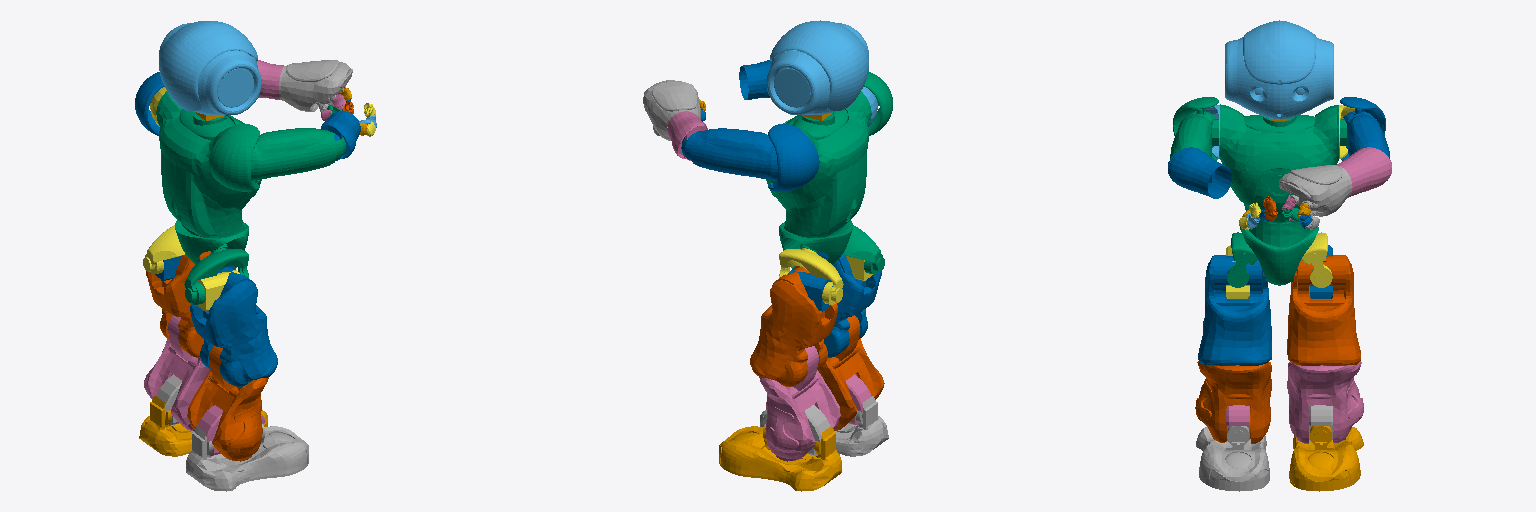
--- Render facts (derived) ---
Views: 3 orthographic renders of the robot side by side, from view 1: azimuth 30°, elevation 25°; view 2: azimuth 150°, elevation 25°; view 3: azimuth 270°, elevation 25°.
Robot: nao — 83 links, 82 joints (26 revolute, 56 fixed); root link base_link; default pose: all joints at 0 but 2 set to mid-range because 0 is outside their limits (LElbowRoll = -0.7898, RElbowRoll = 0.7898).
Links seen in each view (by area): view 1: torso, Head, RBicep, RThigh, r_ankle, RTibia, l_wrist, LTibia, LThigh, l_ankle, RPelvis, LPelvis (+6 smaller); view 2: torso, Head, LBicep, LThigh, l_ankle, LTibia, RTibia, RThigh, l_wrist, r_ankle, LPelvis, RPelvis (+6 smaller); view 3: torso, Head, LThigh, RThigh, RTibia, LTibia, l_ankle, r_ankle, l_wrist, RForeArm, LBicep, RBicep (+4 smaller).
Boxes of the visible links, left/top/right/bottom form: torso: left=156, top=91, right=261, bottom=268; Head: left=159, top=21, right=261, bottom=114; RBicep: left=209, top=124, right=345, bottom=191; RThigh: left=190, top=266, right=277, bottom=386; r_ankle: left=186, top=424, right=308, bottom=491; RTibia: left=187, top=346, right=268, bottom=461; l_wrist: left=279, top=60, right=352, bottom=111; LTibia: left=144, top=315, right=209, bottom=430; LThigh: left=146, top=251, right=210, bottom=357; l_ankle: left=139, top=396, right=267, bottom=456; RPelvis: left=184, top=248, right=248, bottom=304; LPelvis: left=143, top=225, right=184, bottom=274; torso: left=766, top=91, right=871, bottom=268; Head: left=767, top=20, right=868, bottom=114; LBicep: left=681, top=124, right=819, bottom=191; LThigh: left=750, top=266, right=837, bottom=386; l_ankle: left=719, top=424, right=841, bottom=491; LTibia: left=759, top=346, right=840, bottom=461; RTibia: left=818, top=315, right=884, bottom=430; RThigh: left=817, top=251, right=881, bottom=357; l_wrist: left=643, top=80, right=700, bottom=140; r_ankle: left=760, top=396, right=888, bottom=456; LPelvis: left=779, top=248, right=843, bottom=304; RPelvis: left=843, top=225, right=884, bottom=274; torso: left=1212, top=104, right=1347, bottom=285; Head: left=1225, top=20, right=1333, bottom=119; LThigh: left=1287, top=255, right=1360, bottom=365; RThigh: left=1198, top=255, right=1271, bottom=365; RTibia: left=1195, top=361, right=1271, bottom=443; LTibia: left=1287, top=361, right=1363, bottom=443; l_ankle: left=1289, top=426, right=1363, bottom=491; r_ankle: left=1196, top=426, right=1269, bottom=491; l_wrist: left=1279, top=165, right=1352, bottom=216; RForeArm: left=1168, top=147, right=1231, bottom=198; LBicep: left=1340, top=97, right=1389, bottom=160; RBicep: left=1170, top=97, right=1218, bottom=160.
Size in the robot's own frame: 0.2792 by 0.2719 by 0.5738 metres.
Meshes: 39 distinct files referenced, 38 mesh visuals loaded (38 Collada DAE); not drawn: 1 (reference not matched to a file when rendering).

robot.urdf — nao:
<?xml version="1.0" encoding="utf-8"?>
<!-- =================================================================================== -->
<!-- |    This document was autogenerated by xacro from nao_robot.xacro                | -->
<!-- |    EDITING THIS FILE BY HAND IS NOT RECOMMENDED                                 | -->
<!-- =================================================================================== -->
<!--******************************************************************
 ****** File automatically generated by generate_urdf.py script ******
 *********************************************************************-->
<robot name="nao">
  <joint name="HeadYaw" type="revolute">
    <parent link="torso"/>
    <child link="Neck"/>
    <origin rpy="0 0 0" xyz="0 0 0.1265"/>
    <axis xyz="0 0 1.0"/>
    <limit effort="1.547" lower="-2.08567" upper="2.08567" velocity="8.26797"/>
  </joint>
  <link name="Neck">
    <inertial>
      <mass value="0.06442"/>
      <inertia ixx="2.65584e-05" ixy="1.57e-09" ixz="0" iyy="2.75654e-05" iyz="-5.295e-08" izz="5.53372e-06"/>
      <origin rpy="0 0 0" xyz="-1e-05 0 -0.02742"/>
    </inertial>
    <visual>
      <geometry>
        <mesh filename="package://nao_description/nao_meshes/meshes/V40/HeadYaw.dae" scale="0.1 0.1 0.1"/>
      </geometry>
      <origin rpy="0 0 0" xyz="0 0 0"/>
    </visual>
    <collision>
      <geometry>
        <mesh filename="package://nao_description/nao_meshes/meshes/V40/HeadYaw_0.10.stl" scale="0.1 0.1 0.1"/>
      </geometry>
      <origin rpy="0 0 0" xyz="0 0 0"/>
    </collision>
  </link>
  <joint name="HeadPitch" type="revolute">
    <parent link="Neck"/>
    <child link="Head"/>
    <origin rpy="0 0 0" xyz="0 0 0"/>
    <axis xyz="0 1.0 0"/>
    <limit effort="1.532" lower="-0.671952" upper="0.514872" velocity="7.19407"/>
  </joint>
  <link name="Head">
    <inertial>
      <mass value="0.60533"/>
      <inertia ixx="0.000957766" ixy="8.78814e-06" ixz="5.33702e-06" iyy="0.000816836" iyz="-2.99579e-05" izz="0.000984976"/>
      <origin rpy="0 0 0" xyz="-0.00112 0 0.05258"/>
    </inertial>
    <visual>
      <geometry>
        <mesh filename="package://nao_description/nao_meshes/meshes/V40/HeadPitch.dae" scale="0.1 0.1 0.1"/>
      </geometry>
      <origin rpy="0 0 0" xyz="0 0 0"/>
    </visual>
    <collision>
      <geometry>
        <mesh filename="package://nao_description/nao_meshes/meshes/V40/HeadPitch_0.10.stl" scale="0.1 0.1 0.1"/>
      </geometry>
      <origin rpy="0 0 0" xyz="0 0 0"/>
    </collision>
  </link>
  <joint name="gaze_joint" type="fixed">
    <parent link="Head"/>
    <child link="gaze"/>
    <origin rpy="0 0 0" xyz="0.05871 0 0.06364"/>
  </joint>
  <link name="gaze"/>
  <joint name="LHipYawPitch" type="revolute">
    <parent link="torso"/>
    <child link="LPelvis"/>
    <origin rpy="0 0 0" xyz="0 0.05 -0.085"/>
    <axis xyz="0 0.707106 -0.707106"/>
    <limit effort="3.348" lower="-1.14529" upper="0.740718" velocity="4.16174"/>
  </joint>
  <link name="LPelvis">
    <inertial>
      <mass value="0.06981"/>
      <inertia ixx="2.3407e-05" ixy="1.07922e-06" ixz="-1.76003e-06" iyy="4.76355e-05" iyz="2.76058e-06" izz="4.97021e-05"/>
      <origin rpy="0 0 0" xyz="-0.00781 -0.01114 0.02661"/>
    </inertial>
    <visual>
      <geometry>
        <mesh filename="package://nao_description/nao_meshes/meshes/V40/LHipYawPitch.dae" scale="0.1 0.1 0.1"/>
      </geometry>
      <origin rpy="0 0 0" xyz="0 0 0"/>
    </visual>
    <collision>
      <geometry>
        <mesh filename="package://nao_description/nao_meshes/meshes/V40/LHipYawPitch_0.10.stl" scale="0.1 0.1 0.1"/>
      </geometry>
      <origin rpy="0 0 0" xyz="0 0 0"/>
    </collision>
  </link>
  <joint name="LHipRoll" type="revolute">
    <parent link="LPelvis"/>
    <child link="LHip"/>
    <origin rpy="0 0 0" xyz="0 0 0"/>
    <axis xyz="1.0 0 0"/>
    <limit effort="3.348" lower="-0.379435" upper="0.79046" velocity="4.16174"/>
  </joint>
  <link name="LHip">
    <inertial>
      <mass value="0.13053"/>
      <inertia ixx="2.41106e-05" ixy="-6.08684e-07" ixz="6.33119e-06" iyy="6.34892e-05" iyz="-1.99137e-07" izz="5.67694e-05"/>
      <origin rpy="0 0 0" xyz="-0.01549 0.00029 -0.00515"/>
    </inertial>
    <visual>
      <geometry>
        <mesh filename="package://nao_description/nao_meshes/meshes/V40/LHipRoll.dae" scale="0.1 0.1 0.1"/>
      </geometry>
      <origin rpy="0 0 0" xyz="0 0 0"/>
    </visual>
    <collision>
      <geometry>
        <mesh filename="package://nao_description/nao_meshes/meshes/V40/LHipRoll_0.10.stl" scale="0.1 0.1 0.1"/>
      </geometry>
      <origin rpy="0 0 0" xyz="0 0 0"/>
    </collision>
  </link>
  <joint name="LHipPitch" type="revolute">
    <parent link="LHip"/>
    <child link="LThigh"/>
    <origin rpy="0 0 0" xyz="0 0 0"/>
    <axis xyz="0 1.0 0"/>
    <limit effort="3.023" lower="-1.53589" upper="0.48398" velocity="6.40239"/>
  </joint>
  <link name="LThigh">
    <inertial>
      <mass value="0.38968"/>
      <inertia ixx="0.000509844" ixy="2.11296e-06" ixz="5.64129e-05" iyy="0.000465358" iyz="-7.91029e-06" izz="0.000301098"/>
      <origin rpy="0 0 0" xyz="0.00138 0.00221 -0.05373"/>
    </inertial>
    <visual>
      <geometry>
        <mesh filename="package://nao_description/nao_meshes/meshes/V40/LHipPitch.dae" scale="0.1 0.1 0.1"/>
      </geometry>
      <origin rpy="0 0 0" xyz="0 0 0"/>
    </visual>
    <collision>
      <geometry>
        <mesh filename="package://nao_description/nao_meshes/meshes/V40/LHipPitch_0.10.stl" scale="0.1 0.1 0.1"/>
      </geometry>
      <origin rpy="0 0 0" xyz="0 0 0"/>
    </collision>
  </link>
  <joint name="LKneePitch" type="revolute">
    <parent link="LThigh"/>
    <child link="LTibia"/>
    <origin rpy="0 0 0" xyz="0 0 -0.1"/>
    <axis xyz="0 1.0 0"/>
    <limit effort="3.023" lower="-0.0923279" upper="2.11255" velocity="6.40239"/>
  </joint>
  <link name="LTibia">
    <inertial>
      <mass value="0.29142"/>
      <inertia ixx="0.000470586" ixy="3.60392e-06" ixz="-2.86648e-05" iyy="0.000412654" iyz="7.13013e-06" izz="0.000185772"/>
      <origin rpy="0 0 0" xyz="0.00453 0.00225 -0.04936"/>
    </inertial>
    <visual>
      <geometry>
        <mesh filename="package://nao_description/nao_meshes/meshes/V40/LKneePitch.dae" scale="0.1 0.1 0.1"/>
      </geometry>
      <origin rpy="0 0 0" xyz="0 0 0"/>
    </visual>
    <collision>
      <geometry>
        <mesh filename="package://nao_description/nao_meshes/meshes/V40/LKneePitch_0.10.stl" scale="0.1 0.1 0.1"/>
      </geometry>
      <origin rpy="0 0 0" xyz="0 0 0"/>
    </collision>
  </link>
  <joint name="LAnklePitch" type="revolute">
    <parent link="LTibia"/>
    <child link="LAnklePitch"/>
    <origin rpy="0 0 0" xyz="0 0 -0.1029"/>
    <axis xyz="0 1.0 0"/>
    <limit effort="3.023" lower="-1.18944" upper="0.922581" velocity="6.40239"/>
  </joint>
  <link name="LAnklePitch">
    <inertial>
      <mass value="0.13416"/>
      <inertia ixx="3.22034e-05" ixy="-8.83212e-09" ixz="4.27549e-06" iyy="6.7943e-05" iyz="2.84849e-07" izz="5.48269e-05"/>
      <origin rpy="0 0 0" xyz="0.00045 0.00029 0.00685"/>
    </inertial>
    <visual>
      <geometry>
        <mesh filename="package://nao_description/nao_meshes/meshes/V40/LAnklePitch.dae" scale="0.1 0.1 0.1"/>
      </geometry>
      <origin rpy="0 0 0" xyz="0 0 0"/>
    </visual>
    <collision>
      <geometry>
        <mesh filename="package://nao_description/nao_meshes/meshes/V40/LAnklePitch_0.10.stl" scale="0.1 0.1 0.1"/>
      </geometry>
      <origin rpy="0 0 0" xyz="0 0 0"/>
    </collision>
  </link>
  <joint name="LAnkleRoll" type="revolute">
    <parent link="LAnklePitch"/>
    <child link="l_ankle"/>
    <origin rpy="0 0 0" xyz="0 0 0"/>
    <axis xyz="1.0 0 0"/>
    <limit effort="3.348" lower="-0.397761" upper="0.768992" velocity="4.16174"/>
  </joint>
  <link name="l_ankle">
    <inertial>
      <mass value="0.16184"/>
      <inertia ixx="9.78911e-05" ixy="7.88039e-06" ixz="6.1279e-06" iyy="0.000369977" iyz="1.44233e-06" izz="0.000419417"/>
      <origin rpy="0 0 0" xyz="0.02542 0.0033 -0.03239"/>
    </inertial>
    <visual>
      <geometry>
        <mesh filename="package://nao_description/nao_meshes/meshes/V40/LAnkleRoll.dae" scale="0.1 0.1 0.1"/>
      </geometry>
      <origin rpy="0 0 0" xyz="0 0 0"/>
    </visual>
    <collision>
      <geometry>
        <mesh filename="package://nao_description/nao_meshes/meshes/V40/LAnkleRoll_0.10.stl" scale="0.1 0.1 0.1"/>
      </geometry>
      <origin rpy="0 0 0" xyz="0 0 0"/>
    </collision>
  </link>
  <joint name="LLeg_effector_fixedjoint" type="fixed">
    <parent link="l_ankle"/>
    <child link="l_sole"/>
    <origin rpy="0 0 0" xyz="0 0 -0.04511"/>
    <axis xyz="0 0 0"/>
  </joint>
  <link name="l_sole"/>
  <joint name="RHipYawPitch" type="revolute">
    <parent link="torso"/>
    <child link="RPelvis"/>
    <origin rpy="0 0 0" xyz="0 -0.05 -0.085"/>
    <axis xyz="0 0.707106 0.707106"/>
    <limit effort="3.348" lower="-1.14529" upper="0.740718" velocity="4.16174"/>
    <mimic joint="LHipYawPitch" multiplier="1.0" offset="0"/>
  </joint>
  <link name="RPelvis">
    <inertial>
      <mass value="0.06981"/>
      <inertia ixx="3.18766e-05" ixy="-1.07152e-06" ixz="-1.77295e-06" iyy="5.18361e-05" iyz="-7.00664e-06" izz="5.39657e-05"/>
      <origin rpy="0 0 0" xyz="-0.00781 0.01114 0.02661"/>
    </inertial>
    <visual>
      <geometry>
        <mesh filename="package://nao_description/nao_meshes/meshes/V40/RHipYawPitch.dae" scale="0.1 0.1 0.1"/>
      </geometry>
      <origin rpy="0 0 0" xyz="0 0 0"/>
    </visual>
    <collision>
      <geometry>
        <mesh filename="package://nao_description/nao_meshes/meshes/V40/RHipYawPitch_0.10.stl" scale="0.1 0.1 0.1"/>
      </geometry>
      <origin rpy="0 0 0" xyz="0 0 0"/>
    </collision>
  </link>
  <joint name="RHipRoll" type="revolute">
    <parent link="RPelvis"/>
    <child link="RHip"/>
    <origin rpy="0 0 0" xyz="0 0 0"/>
    <axis xyz="1.0 0 0"/>
    <limit effort="3.348" lower="-0.79046" upper="0.379435" velocity="4.16174"/>
  </joint>
  <link name="RHip">
    <inertial>
      <mass value="0.13053"/>
      <inertia ixx="2.41136e-05" ixy="5.67164e-07" ixz="6.30461e-06" iyy="6.34886e-05" iyz="1.97457e-07" izz="5.6773e-05"/>
      <origin rpy="0 0 0" xyz="-0.01549 -0.00029 -0.00515"/>
    </inertial>
    <visual>
      <geometry>
        <mesh filename="package://nao_description/nao_meshes/meshes/V40/RHipRoll.dae" scale="0.1 0.1 0.1"/>
      </geometry>
      <origin rpy="0 0 0" xyz="0 0 0"/>
    </visual>
    <collision>
      <geometry>
        <mesh filename="package://nao_description/nao_meshes/meshes/V40/RHipRoll_0.10.stl" scale="0.1 0.1 0.1"/>
      </geometry>
      <origin rpy="0 0 0" xyz="0 0 0"/>
    </collision>
  </link>
  <joint name="RHipPitch" type="revolute">
    <parent link="RHip"/>
    <child link="RThigh"/>
    <origin rpy="0 0 0" xyz="0 0 0"/>
    <axis xyz="0 1.0 0"/>
    <limit effort="3.0226" lower="-1.53589" upper="0.48398" velocity="6.40239"/>
  </joint>
  <link name="RThigh">
    <inertial>
      <mass value="0.38968"/>
      <inertia ixx="0.000510607" ixy="-2.02799e-06" ixz="5.69893e-05" iyy="0.0004665" iyz="7.09563e-06" izz="0.000301333"/>
      <origin rpy="0 0 0" xyz="0.00138 -0.00221 -0.05373"/>
    </inertial>
    <visual>
      <geometry>
        <mesh filename="package://nao_description/nao_meshes/meshes/V40/RHipPitch.dae" scale="0.1 0.1 0.1"/>
      </geometry>
      <origin rpy="0 0 0" xyz="0 0 0"/>
    </visual>
    <collision>
      <geometry>
        <mesh filename="package://nao_description/nao_meshes/meshes/V40/RHipPitch_0.10.stl" scale="0.1 0.1 0.1"/>
      </geometry>
      <origin rpy="0 0 0" xyz="0 0 0"/>
    </collision>
  </link>
  <joint name="RKneePitch" type="revolute">
    <parent link="RThigh"/>
    <child link="RTibia"/>
    <origin rpy="0 0 0" xyz="0 0 -0.1"/>
    <axis xyz="0 1.0 0"/>
    <limit effort="3.0226" lower="-0.0923279" upper="2.11255" velocity="6.40239"/>
  </joint>
  <link name="RTibia">
    <inertial>
      <mass value="0.29142"/>
      <inertia ixx="0.000471336" ixy="-3.8668e-06" ixz="-3.71648e-05" iyy="0.00041228" iyz="-6.11093e-06" izz="0.000183997"/>
      <origin rpy="0 0 0" xyz="0.00453 -0.00225 -0.04936"/>
    </inertial>
    <visual>
      <geometry>
        <mesh filename="package://nao_description/nao_meshes/meshes/V40/RKneePitch.dae" scale="0.1 0.1 0.1"/>
      </geometry>
      <origin rpy="0 0 0" xyz="0 0 0"/>
    </visual>
    <collision>
      <geometry>
        <mesh filename="package://nao_description/nao_meshes/meshes/V40/RKneePitch_0.10.stl" scale="0.1 0.1 0.1"/>
      </geometry>
      <origin rpy="0 0 0" xyz="0 0 0"/>
    </collision>
  </link>
  <joint name="RAnklePitch" type="revolute">
    <parent link="RTibia"/>
    <child link="RAnklePitch"/>
    <origin rpy="0 0 0" xyz="0 0 -0.1029"/>
    <axis xyz="0 1.0 0"/>
    <limit effort="3.0226" lower="-1.1863" upper="0.932006" velocity="6.40239"/>
  </joint>
  <link name="RAnklePitch">
    <inertial>
      <mass value="0.13416"/>
      <inertia ixx="3.22017e-05" ixy="4.68321e-08" ixz="4.28821e-06" iyy="6.79885e-05" iyz="-2.71089e-07" izz="5.48747e-05"/>
      <origin rpy="0 0 0" xyz="0.00045 -0.00029 0.00685"/>
    </inertial>
    <visual>
      <geometry>
        <mesh filename="package://nao_description/nao_meshes/meshes/V40/RAnklePitch.dae" scale="0.1 0.1 0.1"/>
      </geometry>
      <origin rpy="0 0 0" xyz="0 0 0"/>
    </visual>
    <collision>
      <geometry>
        <mesh filename="package://nao_description/nao_meshes/meshes/V40/RAnklePitch_0.10.stl" scale="0.1 0.1 0.1"/>
      </geometry>
      <origin rpy="0 0 0" xyz="0 0 0"/>
    </collision>
  </link>
  <joint name="RAnkleRoll" type="revolute">
    <parent link="RAnklePitch"/>
    <child link="r_ankle"/>
    <origin rpy="0 0 0" xyz="0 0 0"/>
    <axis xyz="1.0 0 0"/>
    <limit effort="3.348" lower="-0.768992" upper="0.397761" velocity="4.16174"/>
  </joint>
  <link name="r_ankle">
    <inertial>
      <mass value="0.16184"/>
      <inertia ixx="9.77513e-05" ixy="-7.70106e-06" ixz="5.88169e-06" iyy="0.000369108" iyz="-1.55058e-06" izz="0.000418695"/>
      <origin rpy="0 0 0" xyz="0.02542 -0.0033 -0.03239"/>
    </inertial>
    <visual>
      <geometry>
        <mesh filename="package://nao_description/nao_meshes/meshes/V40/RAnkleRoll.dae" scale="0.1 0.1 0.1"/>
      </geometry>
      <origin rpy="0 0 0" xyz="0 0 0"/>
    </visual>
    <collision>
      <geometry>
        <mesh filename="package://nao_description/nao_meshes/meshes/V40/RAnkleRoll_0.10.stl" scale="0.1 0.1 0.1"/>
      </geometry>
      <origin rpy="0 0 0" xyz="0 0 0"/>
    </collision>
  </link>
  <joint name="RLeg_effector_fixedjoint" type="fixed">
    <parent link="r_ankle"/>
    <child link="r_sole"/>
    <origin rpy="0 0 0" xyz="0 0 -0.04511"/>
    <axis xyz="0 0 0"/>
  </joint>
  <link name="r_sole"/>
  <link name="base_link"/>
  <joint name="base_link_fixedjoint" type="fixed">
    <parent link="base_link"/>
    <child link="torso"/>
    <origin rpy="0 0 0" xyz="0 0 0"/>
    <axis xyz="0 0 0"/>
  </joint>
  <link name="torso">
    <inertial>
      <mass value="1.04956"/>
      <inertia ixx="0.00308361" ixy="1.43116e-05" ixz="-3.30211e-05" iyy="0.0028835" iyz="-2.70793e-05" izz="0.0015924"/>
      <origin rpy="0 0 0" xyz="-0.00413 0 0.04342"/>
    </inertial>
    <visual>
      <geometry>
        <mesh filename="package://nao_description/nao_meshes/meshes/V40/Torso.dae" scale="0.1 0.1 0.1"/>
      </geometry>
      <origin rpy="0 0 0" xyz="0 0 0"/>
    </visual>
    <collision>
      <geometry>
        <mesh filename="package://nao_description/nao_meshes/meshes/V40/Torso_0.10.stl" scale="0.1 0.1 0.1"/>
      </geometry>
      <origin rpy="0 0 0" xyz="0 0 0"/>
    </collision>
  </link>
  <joint name="LShoulderPitch" type="revolute">
    <parent link="torso"/>
    <child link="LShoulder"/>
    <origin rpy="0 0 0" xyz="0 0.098 0.1"/>
    <axis xyz="0 1.0 0"/>
    <limit effort="1.329" lower="-2.08567" upper="2.08567" velocity="8.26797"/>
  </joint>
  <link name="LShoulder">
    <inertial>
      <mass value="0.07504"/>
      <inertia ixx="3.10677e-05" ixy="1.2692e-06" ixz="6.04576e-09" iyy="1.39498e-05" iyz="-2.99484e-07" izz="3.30001e-05"/>
      <origin rpy="0 0 0" xyz="-0.00165 -0.02663 0.00014"/>
    </inertial>
    <visual>
      <geometry>
        <mesh filename="package://nao_description/nao_meshes/meshes/V40/LShoulderPitch.dae" scale="0.1 0.1 0.1"/>
      </geometry>
      <origin rpy="0 0 0" xyz="0 0 0"/>
    </visual>
    <collision>
      <geometry>
        <mesh filename="package://nao_description/nao_meshes/meshes/V40/LShoulderPitch_0.10.stl" scale="0.1 0.1 0.1"/>
      </geometry>
      <origin rpy="0 0 0" xyz="0 0 0"/>
    </collision>
  </link>
  <joint name="LShoulderRoll" type="revolute">
    <parent link="LShoulder"/>
    <child link="LBicep"/>
    <origin rpy="0 0 0" xyz="0 0 0"/>
    <axis xyz="0 0 1.0"/>
    <limit effort="1.7835" lower="-0.314159" upper="1.32645" velocity="7.19407"/>
  </joint>
  <link name="LBicep">
    <inertial>
      <mass value="0.15777"/>
      <inertia ixx="8.7181e-05" ixy="-2.53381e-05" ixz="-1.4213e-05" iyy="0.000274712" iyz="4.71439e-07" izz="0.000241812"/>
      <origin rpy="0 0 0" xyz="0.02455 0.00563 0.0033"/>
    </inertial>
    <visual>
      <geometry>
        <mesh filename="package://nao_description/nao_meshes/meshes/V40/LShoulderRoll.dae" scale="0.1 0.1 0.1"/>
      </geometry>
      <origin rpy="0 0 0" xyz="0 0 0"/>
    </visual>
    <collision>
      <geometry>
        <mesh filename="package://nao_description/nao_meshes/meshes/V40/LShoulderRoll_0.10.stl" scale="0.1 0.1 0.1"/>
      </geometry>
      <origin rpy="0 0 0" xyz="0 0 0"/>
    </collision>
  </link>
  <joint name="LElbowYaw" type="revolute">
    <parent link="LBicep"/>
    <child link="LElbow"/>
    <origin rpy="0 0 0" xyz="0.105 0.015 0"/>
    <axis xyz="1.0 0 0"/>
    <limit effort="1.547" lower="-2.08567" upper="2.08567" velocity="8.26797"/>
  </joint>
  <link name="LElbow">
    <inertial>
      <mass value="0.06483"/>
      <inertia ixx="5.59588e-06" ixy="4.21e-09" ixz="2.92241e-07" iyy="2.66179e-05" iyz="-1.84e-09" izz="2.76294e-05"/>
      <origin rpy="0 0 0" xyz="-0.02744 0 -0.00014"/>
    </inertial>
  </link>
  <joint name="LElbowRoll" type="revolute">
    <parent link="LElbow"/>
    <child link="LForeArm"/>
    <origin rpy="0 0 0" xyz="0 0 0"/>
    <axis xyz="0 0 1.0"/>
    <limit effort="1.532" lower="-1.54462" upper="-0.0349066" velocity="7.19407"/>
  </joint>
  <link name="LForeArm">
    <inertial>
      <mass value="0.07761"/>
      <inertia ixx="2.46746e-05" ixy="3.23152e-06" ixz="1.58221e-06" iyy="3.83837e-05" iyz="1.39194e-07" izz="3.59708e-05"/>
      <origin rpy="0 0 0" xyz="0.02556 0.00281 0.00076"/>
    </inertial>
    <visual>
      <geometry>
        <mesh filename="package://nao_description/nao_meshes/meshes/V40/LElbowRoll.dae" scale="0.1 0.1 0.1"/>
      </geometry>
      <origin rpy="0 0 0" xyz="0 0 0"/>
    </visual>
    <collision>
      <geometry>
        <mesh filename="package://nao_description/nao_meshes/meshes/V40/LElbowRoll_0.10.stl" scale="0.1 0.1 0.1"/>
      </geometry>
      <origin rpy="0 0 0" xyz="0 0 0"/>
    </collision>
  </link>
  <joint name="LWristYaw" type="revolute">
    <parent link="LForeArm"/>
    <child link="l_wrist"/>
    <origin rpy="0 0 0" xyz="0.05595 0 0"/>
    <axis xyz="1.0 0 0"/>
    <limit effort="0.4075" lower="-1.82387" upper="1.82387" velocity="24.6229"/>
  </joint>
  <link name="l_wrist">
    <inertial>
      <mass value="0.18533"/>
      <inertia ixx="6.86477e-05" ixy="1.15465e-07" ixz="-2.87254e-06" iyy="0.000135756" iyz="2.67539e-06" izz="0.000133228"/>
      <origin rpy="0 0 0" xyz="0.03434 -0.00088 0.00308"/>
    </inertial>
    <visual>
      <geometry>
        <mesh filename="package://nao_description/nao_meshes/meshes/V40/LWristYaw.dae" scale="0.1 0.1 0.1"/>
      </geometry>
      <origin rpy="0 0 0" xyz="0 0 0"/>
    </visual>
    <collision>
      <geometry>
        <mesh filename="package://nao_description/nao_meshes/meshes/V40/LWristYaw_0.10.stl" scale="0.1 0.1 0.1"/>
      </geometry>
      <origin rpy="0 0 0" xyz="0 0 0"/>
    </collision>
  </link>
  <joint name="LHand" type="revolute">
    <parent link="l_wrist"/>
    <child link="l_gripper"/>
    <origin rpy="0 0 0" xyz="0.05775 0 -0.01231"/>
    <axis xyz="1.0 0 0"/>
    <limit effort="0.292" lower="0" upper="1.0" velocity="8.33"/>
  </joint>
  <link name="l_gripper">
    <inertial>
      <mass value="2e-06"/>
      <inertia ixx="1.1e-09" ixy="0" ixz="0" iyy="1.1e-09" iyz="0" izz="1.1e-09"/>
    </inertial>
  </link>
  <joint name="RShoulderPitch" type="revolute">
    <parent link="torso"/>
    <child link="RShoulder"/>
    <origin rpy="0 0 0" xyz="0 -0.098 0.1"/>
    <axis xyz="0 1.0 0"/>
    <limit effort="1.329" lower="-2.08567" upper="2.08567" velocity="8.26797"/>
  </joint>
  <link name="RShoulder">
    <inertial>
      <mass value="0.07504"/>
      <inertia ixx="3.10677e-05" ixy="-1.2692e-06" ixz="6.04576e-09" iyy="1.39498e-05" iyz="2.99484e-07" izz="3.30001e-05"/>
      <origin rpy="0 0 0" xyz="-0.00165 0.02663 0.00014"/>
    </inertial>
    <visual>
      <geometry>
        <mesh filename="package://nao_description/nao_meshes/meshes/V40/RShoulderPitch.dae" scale="0.1 0.1 0.1"/>
      </geometry>
      <origin rpy="0 0 0" xyz="0 0 0"/>
    </visual>
    <collision>
      <geometry>
        <mesh filename="package://nao_description/nao_meshes/meshes/V40/RShoulderPitch_0.10.stl" scale="0.1 0.1 0.1"/>
      </geometry>
      <origin rpy="0 0 0" xyz="0 0 0"/>
    </collision>
  </link>
  <joint name="RShoulderRoll" type="revolute">
    <parent link="RShoulder"/>
    <child link="RBicep"/>
    <origin rpy="0 0 0" xyz="0 0 0"/>
    <axis xyz="0 0 1.0"/>
    <limit effort="1.783" lower="-1.32645" upper="0.314159" velocity="7.19407"/>
  </joint>
  <link name="RBicep">
    <inertial>
      <mass value="0.15777"/>
      <inertia ixx="0.000103401" ixy="5.48849e-05" ixz="-1.32643e-05" iyy="0.00027077" iyz="9.16707e-06" izz="0.000254529"/>
      <origin rpy="0 0 0" xyz="0.02455 -0.00563 0.0033"/>
    </inertial>
    <visual>
      <geometry>
        <mesh filename="package://nao_description/nao_meshes/meshes/V40/RShoulderRoll.dae" scale="0.1 0.1 0.1"/>
      </geometry>
      <origin rpy="0 0 0" xyz="0 0 0"/>
    </visual>
    <collision>
      <geometry>
        <mesh filename="package://nao_description/nao_meshes/meshes/V40/RShoulderRoll_0.10.stl" scale="0.1 0.1 0.1"/>
      </geometry>
      <origin rpy="0 0 0" xyz="0 0 0"/>
    </collision>
  </link>
  <joint name="RElbowYaw" type="revolute">
    <parent link="RBicep"/>
    <child link="RElbow"/>
    <origin rpy="0 0 0" xyz="0.105 -0.015 0"/>
    <axis xyz="1.0 0 0"/>
    <limit effort="1.547" lower="-2.08567" upper="2.08567" velocity="8.26797"/>
  </joint>
  <link name="RElbow">
    <inertial>
      <mass value="0.06483"/>
      <inertia ixx="5.59588e-06" ixy="4.21e-09" ixz="2.92241e-07" iyy="2.66179e-05" iyz="-1.84e-09" izz="2.76294e-05"/>
      <origin rpy="0 0 0" xyz="-0.02744 0 -0.00014"/>
    </inertial>
  </link>
  <joint name="RElbowRoll" type="revolute">
    <parent link="RElbow"/>
    <child link="RForeArm"/>
    <origin rpy="0 0 0" xyz="0 0 0"/>
    <axis xyz="0 0 1.0"/>
    <limit effort="1.532" lower="0.0349066" upper="1.54462" velocity="7.19407"/>
  </joint>
  <link name="RForeArm">
    <inertial>
      <mass value="0.07761"/>
      <inertia ixx="2.47331e-05" ixy="-3.2418e-06" ixz="9.06451e-07" iyy="3.84719e-05" iyz="-1.38804e-07" izz="3.59319e-05"/>
      <origin rpy="0 0 0" xyz="0.02556 -0.00281 0.00076"/>
    </inertial>
    <visual>
      <geometry>
        <mesh filename="package://nao_description/nao_meshes/meshes/V40/RElbowRoll.dae" scale="0.1 0.1 0.1"/>
      </geometry>
      <origin rpy="0 0 0" xyz="0 0 0"/>
    </visual>
    <collision>
      <geometry>
        <mesh filename="package://nao_description/nao_meshes/meshes/V40/RElbowRoll_0.10.stl" scale="0.1 0.1 0.1"/>
      </geometry>
      <origin rpy="0 0 0" xyz="0 0 0"/>
    </collision>
  </link>
  <joint name="RWristYaw" type="revolute">
    <parent link="RForeArm"/>
    <child link="r_wrist"/>
    <origin rpy="0 0 0" xyz="0.05595 0 0"/>
    <axis xyz="1.0 0 0"/>
    <limit effort="0.4075" lower="-1.82387" upper="1.82387" velocity="24.6229"/>
  </joint>
  <link name="r_wrist">
    <inertial>
      <mass value="0.18533"/>
      <inertia ixx="6.86477e-05" ixy="1.13165e-05" ixz="-2.87254e-06" iyy="0.000135756" iyz="3.68003e-06" izz="0.000133228"/>
      <origin rpy="0 0 0" xyz="0.03434 0.00088 0.00308"/>
    </inertial>
    <visual>
      <geometry>
        <mesh filename="package://nao_description/nao_meshes/meshes/V40/RWristYaw.dae" scale="0.1 0.1 0.1"/>
      </geometry>
      <origin rpy="0 0 0" xyz="0 0 0"/>
    </visual>
    <collision>
      <geometry>
        <mesh filename="package://nao_description/nao_meshes/meshes/V40/RWristYaw_0.10.stl" scale="0.1 0.1 0.1"/>
      </geometry>
      <origin rpy="0 0 0" xyz="0 0 0"/>
    </collision>
  </link>
  <joint name="RHand" type="revolute">
    <parent link="r_wrist"/>
    <child link="r_gripper"/>
    <origin rpy="0 0 0" xyz="0.05775 0 -0.01231"/>
    <axis xyz="1.0 0 0"/>
    <limit effort="0.292" lower="0" upper="1.0" velocity="8.33"/>
  </joint>
  <link name="r_gripper">
    <inertial>
      <mass value="2e-06"/>
      <inertia ixx="1.1e-09" ixy="0" ixz="0" iyy="1.1e-09" iyz="0" izz="1.1e-09"/>
    </inertial>
  </link>
  <link name="LFootBumperRight_frame"/>
  <joint name="LFoot/Bumper/Right_sensor_fixedjoint" type="fixed">
    <parent link="l_ankle"/>
    <child link="LFootBumperRight_frame"/>
    <origin rpy="0 0 0" xyz="0.0876 -0.014 -0.0353"/>
    <axis xyz="0 0 0"/>
  </joint>
  <link name="RFsrRL_frame">
    <collision>
      <geometry>
        <box size="0.01 0.01 0.005"/>
      </geometry>
      <origin rpy="0 0 0" xyz="0 0 0"/>
    </collision>
    <inertial>
      <mass value="2e-06"/>
      <inertia ixx="1.1e-09" ixy="0" ixz="0" iyy="1.1e-09" iyz="0" izz="1.1e-09"/>
    </inertial>
  </link>
  <joint name="RFoot/FSR/RearLeft_sensor_fixedjoint" type="fixed">
    <parent link="r_ankle"/>
    <child link="RFsrRL_frame"/>
    <origin rpy="0 0 0" xyz="-0.03025 0.0191 -0.04511"/>
    <axis xyz="0 0 0"/>
  </joint>
  <link name="CameraBottom_optical_frame"/>
  <joint name="CameraBottom_optical_frame_fixedjoint" type="fixed">
    <parent link="CameraBottom_frame"/>
    <child link="CameraBottom_optical_frame"/>
    <origin rpy="-1.57079632679 0 -1.57079632679" xyz="0 0 0"/>
  </joint>
  <link name="RFsrRR_frame">
    <collision>
      <geometry>
        <box size="0.01 0.01 0.005"/>
      </geometry>
      <origin rpy="0 0 0" xyz="0 0 0"/>
    </collision>
    <inertial>
      <mass value="2e-06"/>
      <inertia ixx="1.1e-09" ixy="0" ixz="0" iyy="1.1e-09" iyz="0" izz="1.1e-09"/>
    </inertial>
  </link>
  <joint name="RFoot/FSR/RearRight_sensor_fixedjoint" type="fixed">
    <parent link="r_ankle"/>
    <child link="RFsrRR_frame"/>
    <origin rpy="0 0 0" xyz="-0.02965 -0.0299 -0.04511"/>
    <axis xyz="0 0 0"/>
  </joint>
  <link name="LFsrFR_frame">
    <collision>
      <geometry>
        <box size="0.01 0.01 0.005"/>
      </geometry>
      <origin rpy="0 0 0" xyz="0 0 0"/>
    </collision>
    <inertial>
      <mass value="2e-06"/>
      <inertia ixx="1.1e-09" ixy="0" ixz="0" iyy="1.1e-09" iyz="0" izz="1.1e-09"/>
    </inertial>
  </link>
  <joint name="LFoot/FSR/FrontRight_sensor_fixedjoint" type="fixed">
    <parent link="l_ankle"/>
    <child link="LFsrFR_frame"/>
    <origin rpy="0 0 0" xyz="0.07025 -0.0231 -0.04511"/>
    <axis xyz="0 0 0"/>
  </joint>
  <link name="LHandTouchBack_frame"/>
  <joint name="LHand/Touch/Back_sensor_fixedjoint" type="fixed">
    <parent link="l_wrist"/>
    <child link="LHandTouchBack_frame"/>
    <origin rpy="3.14159 -1.5708 3.14159" xyz="0.038 0 0.025"/>
    <axis xyz="0 0 0"/>
  </joint>
  <link name="LHandTouchLeft_frame"/>
  <joint name="LHand/Touch/Left_sensor_fixedjoint" type="fixed">
    <parent link="l_wrist"/>
    <child link="LHandTouchLeft_frame"/>
    <origin rpy="0 0 1.5708" xyz="0.032 0.025 0.003"/>
    <axis xyz="0 0 0"/>
  </joint>
  <link name="RFootBumperRight_frame"/>
  <joint name="RFoot/Bumper/Right_sensor_fixedjoint" type="fixed">
    <parent link="r_ankle"/>
    <child link="RFootBumperRight_frame"/>
    <origin rpy="0 0 0" xyz="0.0876 -0.019 -0.0353"/>
    <axis xyz="0 0 0"/>
  </joint>
  <link name="RFsrFR_frame">
    <collision>
      <geometry>
        <box size="0.01 0.01 0.005"/>
      </geometry>
      <origin rpy="0 0 0" xyz="0 0 0"/>
    </collision>
    <inertial>
      <mass value="2e-06"/>
      <inertia ixx="1.1e-09" ixy="0" ixz="0" iyy="1.1e-09" iyz="0" izz="1.1e-09"/>
    </inertial>
  </link>
  <joint name="RFoot/FSR/FrontRight_sensor_fixedjoint" type="fixed">
    <parent link="r_ankle"/>
    <child link="RFsrFR_frame"/>
    <origin rpy="0 0 0" xyz="0.07025 -0.0299 -0.04511"/>
    <axis xyz="0 0 0"/>
  </joint>
  <link name="MicroSurroundLeft_frame"/>
  <joint name="MicroLeft_sensor_fixedjoint" type="fixed">
    <parent link="Head"/>
    <child link="MicroSurroundLeft_frame"/>
    <origin rpy="0 0 0" xyz="-0.0195 0.0606 0.0331"/>
    <axis xyz="0 0 0"/>
  </joint>
  <link name="LFsrRR_frame">
    <collision>
      <geometry>
        <box size="0.01 0.01 0.005"/>
      </geometry>
      <origin rpy="0 0 0" xyz="0 0 0"/>
    </collision>
    <inertial>
      <mass value="2e-06"/>
      <inertia ixx="1.1e-09" ixy="0" ixz="0" iyy="1.1e-09" iyz="0" izz="1.1e-09"/>
    </inertial>
  </link>
  <joint name="LFoot/FSR/RearRight_sensor_fixedjoint" type="fixed">
    <parent link="l_ankle"/>
    <child link="LFsrRR_frame"/>
    <origin rpy="0 0 0" xyz="-0.02965 -0.0191 -0.04511"/>
    <axis xyz="0 0 0"/>
  </joint>
  <link name="MicroSurroundRight_frame"/>
  <joint name="MicroRight_sensor_fixedjoint" type="fixed">
    <parent link="Head"/>
    <child link="MicroSurroundRight_frame"/>
    <origin rpy="0 0 0" xyz="-0.0195 -0.0606 0.0331"/>
    <axis xyz="0 0 0"/>
  </joint>
  <link name="ImuTorsoAccelerometer_frame"/>
  <joint name="Accelerometer_sensor_fixedjoint" type="fixed">
    <parent link="torso"/>
    <child link="ImuTorsoAccelerometer_frame"/>
    <origin rpy="0 0 0" xyz="-0.008 0.00606 0.027"/>
    <axis xyz="0 0 0"/>
  </joint>
  <link name="HeadTouchFront_frame"/>
  <joint name="Head/Touch/Front_sensor_fixedjoint" type="fixed">
    <parent link="Head"/>
    <child link="HeadTouchFront_frame"/>
    <origin rpy="0 -1.1861 0" xyz="0.0312 0 0.1014"/>
    <axis xyz="0 0 0"/>
  </joint>
  <link name="RFootBumperLeft_frame"/>
  <joint name="RFoot/Bumper/Left_sensor_fixedjoint" type="fixed">
    <parent link="r_ankle"/>
    <child link="RFootBumperLeft_frame"/>
    <origin rpy="0 0 0" xyz="0.0876 0.014 -0.0353"/>
    <axis xyz="0 0 0"/>
  </joint>
  <link name="RSonar_frame"/>
  <joint name="Sonar/Right_sensor_fixedjoint" type="fixed">
    <parent link="torso"/>
    <child link="RSonar_frame"/>
    <origin rpy="0.00478508 0.0436497 -0.392441" xyz="0.00558253 -0.0192068 0.0623853"/>
    <axis xyz="0 0 0"/>
  </joint>
  <link name="RHandTouchRight_frame"/>
  <joint name="RHand/Touch/Right_sensor_fixedjoint" type="fixed">
    <parent link="r_wrist"/>
    <child link="RHandTouchRight_frame"/>
    <origin rpy="0 0 -1.5708" xyz="0.035 -0.025 0.0035"/>
    <axis xyz="0 0 0"/>
  </joint>
  <link name="RHandTouchBack_frame"/>
  <joint name="RHand/Touch/Back_sensor_fixedjoint" type="fixed">
    <parent link="r_wrist"/>
    <child link="RHandTouchBack_frame"/>
    <origin rpy="3.14159 -1.5708 3.14159" xyz="0.038 0 0.025"/>
    <axis xyz="0 0 0"/>
  </joint>
  <link name="RFsrFL_frame">
    <collision>
      <geometry>
        <box size="0.01 0.01 0.005"/>
      </geometry>
      <origin rpy="0 0 0" xyz="0 0 0"/>
    </collision>
    <inertial>
      <mass value="2e-06"/>
      <inertia ixx="1.1e-09" ixy="0" ixz="0" iyy="1.1e-09" iyz="0" izz="1.1e-09"/>
    </inertial>
  </link>
  <joint name="RFoot/FSR/FrontLeft_sensor_fixedjoint" type="fixed">
    <parent link="r_ankle"/>
    <child link="RFsrFL_frame"/>
    <origin rpy="0 0 0" xyz="0.07025 0.0231 -0.04511"/>
    <axis xyz="0 0 0"/>
  </joint>
  <link name="LSonar_frame"/>
  <joint name="Sonar/Left_sensor_fixedjoint" type="fixed">
    <parent link="torso"/>
    <child link="LSonar_frame"/>
    <origin rpy="-0.00478508 0.0436497 0.392441" xyz="0.00558253 0.0192068 0.0623853"/>
    <axis xyz="0 0 0"/>
  </joint>
  <link name="LFsrFL_frame">
    <collision>
      <geometry>
        <box size="0.01 0.01 0.005"/>
      </geometry>
      <origin rpy="0 0 0" xyz="0 0 0"/>
    </collision>
    <inertial>
      <mass value="2e-06"/>
      <inertia ixx="1.1e-09" ixy="0" ixz="0" iyy="1.1e-09" iyz="0" izz="1.1e-09"/>
    </inertial>
  </link>
  <joint name="LFoot/FSR/FrontLeft_sensor_fixedjoint" type="fixed">
    <parent link="l_ankle"/>
    <child link="LFsrFL_frame"/>
    <origin rpy="0 0 0" xyz="0.07025 0.0299 -0.04511"/>
    <axis xyz="0 0 0"/>
  </joint>
  <link name="LFsrRL_frame">
    <collision>
      <geometry>
        <box size="0.01 0.01 0.005"/>
      </geometry>
      <origin rpy="0 0 0" xyz="0 0 0"/>
    </collision>
    <inertial>
      <mass value="2e-06"/>
      <inertia ixx="1.1e-09" ixy="0" ixz="0" iyy="1.1e-09" iyz="0" izz="1.1e-09"/>
    </inertial>
  </link>
  <joint name="LFoot/FSR/RearLeft_sensor_fixedjoint" type="fixed">
    <parent link="l_ankle"/>
    <child link="LFsrRL_frame"/>
    <origin rpy="0 0 0" xyz="-0.03025 0.0299 -0.04511"/>
    <axis xyz="0 0 0"/>
  </joint>
  <link name="RHandTouchLeft_frame"/>
  <joint name="RHand/Touch/Left_sensor_fixedjoint" type="fixed">
    <parent link="r_wrist"/>
    <child link="RHandTouchLeft_frame"/>
    <origin rpy="0 0 1.5708" xyz="0.032 0.025 0.003"/>
    <axis xyz="0 0 0"/>
  </joint>
  <link name="CameraBottom_frame"/>
  <joint name="CameraBottom_sensor_fixedjoint" type="fixed">
    <parent link="Head"/>
    <child link="CameraBottom_frame"/>
    <origin rpy="0 0.692896 0" xyz="0.05071 0 0.01774"/>
    <axis xyz="0 0 0"/>
  </joint>
  <link name="CameraTop_frame"/>
  <joint name="CameraTop_sensor_fixedjoint" type="fixed">
    <parent link="Head"/>
    <child link="CameraTop_frame"/>
    <origin rpy="0 0.0209435 0" xyz="0.05871 0 0.06364"/>
    <axis xyz="0 0 0"/>
  </joint>
  <link name="CameraTop_optical_frame"/>
  <joint name="CameraTop_optical_frame_fixedjoint" type="fixed">
    <parent link="CameraTop_frame"/>
    <child link="CameraTop_optical_frame"/>
    <origin rpy="-1.57079632679 0 -1.57079632679" xyz="0 0 0"/>
  </joint>
  <link name="LInfraRed_frame"/>
  <joint name="InfraredL_sensor_fixedjoint" type="fixed">
    <parent link="Head"/>
    <child link="LInfraRed_frame"/>
    <origin rpy="0 0 0" xyz="0.0441 0.0257 0.0466"/>
    <axis xyz="0 0 0"/>
  </joint>
  <link name="ImuTorsoGyrometer_frame"/>
  <joint name="Gyrometer_sensor_fixedjoint" type="fixed">
    <parent link="torso"/>
    <child link="ImuTorsoGyrometer_frame"/>
    <origin rpy="0 0 0" xyz="-0.008 0.006 0.029"/>
    <axis xyz="0 0 0"/>
  </joint>
  <link name="MicroFrontCenter_frame"/>
  <joint name="MicroFront_sensor_fixedjoint" type="fixed">
    <parent link="Head"/>
    <child link="MicroFrontCenter_frame"/>
    <origin rpy="0 0 0" xyz="0.041 0 0.091"/>
    <axis xyz="0 0 0"/>
  </joint>
  <link name="HeadTouchRear_frame"/>
  <joint name="Head/Touch/Rear_sensor_fixedjoint" type="fixed">
    <parent link="Head"/>
    <child link="HeadTouchRear_frame"/>
    <origin rpy="3.14159 -1.33319 -3.14159" xyz="-0.0257 0 0.1045"/>
    <axis xyz="0 0 0"/>
  </joint>
  <link name="HeadTouchMiddle_frame"/>
  <joint name="Head/Touch/Middle_sensor_fixedjoint" type="fixed">
    <parent link="Head"/>
    <child link="HeadTouchMiddle_frame"/>
    <origin rpy="3.14159 -1.57079 -3.14159" xyz="0.001 0 0.1099"/>
    <axis xyz="0 0 0"/>
  </joint>
  <link name="RInfraRed_frame"/>
  <joint name="InfraredR_sensor_fixedjoint" type="fixed">
    <parent link="Head"/>
    <child link="RInfraRed_frame"/>
    <origin rpy="0 0 0" xyz="0.0441 -0.0257 0.0466"/>
    <axis xyz="0 0 0"/>
  </joint>
  <link name="ChestButton_frame"/>
  <joint name="ChestBoard/Button_sensor_fixedjoint" type="fixed">
    <parent link="torso"/>
    <child link="ChestButton_frame"/>
    <origin rpy="0 0 0" xyz="0.049871 0.001588 0.055163"/>
    <axis xyz="0 0 0"/>
  </joint>
  <link name="LFootBumperLeft_frame"/>
  <joint name="LFoot/Bumper/Left_sensor_fixedjoint" type="fixed">
    <parent link="l_ankle"/>
    <child link="LFootBumperLeft_frame"/>
    <origin rpy="0 0 0" xyz="0.0876 0.019 -0.0353"/>
    <axis xyz="0 0 0"/>
  </joint>
  <link name="MicroRearCenter_frame"/>
  <joint name="MicroRear_sensor_fixedjoint" type="fixed">
    <parent link="Head"/>
    <child link="MicroRearCenter_frame"/>
    <origin rpy="0 0 0" xyz="-0.0577 0 0.0693"/>
    <axis xyz="0 0 0"/>
  </joint>
  <link name="LHandTouchRight_frame"/>
  <joint name="LHand/Touch/Right_sensor_fixedjoint" type="fixed">
    <parent link="l_wrist"/>
    <child link="LHandTouchRight_frame"/>
    <origin rpy="0 0 -1.5708" xyz="0.035 -0.025 0.0035"/>
    <axis xyz="0 0 0"/>
  </joint>
  <link name="RFinger23_link">
    <inertial>
      <mass value="2e-06"/>
      <inertia ixx="1.1e-09" ixy="0" ixz="0" iyy="1.1e-09" iyz="0" izz="1.1e-09"/>
    </inertial>
    <visual>
      <geometry>
        <mesh filename="package://nao_description/nao_meshes/meshes/V40/RFinger23.dae" scale="0.1 0.1 0.1"/>
      </geometry>
      <origin rpy="0 0 0" xyz="0 0 0"/>
    </visual>
    <collision>
      <geometry>
        <mesh filename="package://nao_description/nao_meshes/meshes/V40/RFinger23_0.10.stl" scale="0.1 0.1 0.1"/>
      </geometry>
      <origin rpy="0 0 0" xyz="0 0 0"/>
    </collision>
  </link>
  <joint name="RFinger23" type="fixed">
    <parent link="RFinger22_link"/>
    <child link="RFinger23_link"/>
    <origin rpy="0 0 -0.999899" xyz="0.01436 0 0"/>
    <axis xyz="0 0 1.0"/>
    <!--	<mimic joint="RHand" multiplier="0.999899" offset="0"/> -->
  </joint>
  <link name="RFinger13_link">
    <inertial>
      <mass value="2e-06"/>
      <inertia ixx="1.1e-09" ixy="0" ixz="0" iyy="1.1e-09" iyz="0" izz="1.1e-09"/>
    </inertial>
    <visual>
      <geometry>
        <mesh filename="package://nao_description/nao_meshes/meshes/V40/RFinger13.dae" scale="0.1 0.1 0.1"/>
      </geometry>
      <origin rpy="0 0 0" xyz="0 0 0"/>
    </visual>
    <collision>
      <geometry>
        <mesh filename="package://nao_description/nao_meshes/meshes/V40/RFinger13_0.10.stl" scale="0.1 0.1 0.1"/>
      </geometry>
      <origin rpy="0 0 0" xyz="0 0 0"/>
    </collision>
  </link>
  <joint name="RFinger13" type="fixed">
    <parent link="RFinger12_link"/>
    <child link="RFinger13_link"/>
    <origin rpy="0 0 -0.999899" xyz="0.01436 0 0"/>
    <axis xyz="0 0 1.0"/>
    <!--	<mimic joint="RHand" multiplier="0.999899" offset="0"/>  -->
  </joint>
  <link name="RFinger12_link">
    <inertial>
      <mass value="2e-06"/>
      <inertia ixx="1.1e-09" ixy="0" ixz="0" iyy="1.1e-09" iyz="0" izz="1.1e-09"/>
    </inertial>
    <visual>
      <geometry>
        <mesh filename="package://nao_description/nao_meshes/meshes/V40/RFinger12.dae" scale="0.1 0.1 0.1"/>
      </geometry>
      <origin rpy="0 0 0" xyz="0 0 0"/>
    </visual>
    <collision>
      <geometry>
        <mesh filename="package://nao_description/nao_meshes/meshes/V40/RFinger12_0.10.stl" scale="0.1 0.1 0.1"/>
      </geometry>
      <origin rpy="0 0 0" xyz="0 0 0"/>
    </collision>
  </link>
  <joint name="RFinger12" type="fixed">
    <parent link="RFinger11_link"/>
    <child link="RFinger12_link"/>
    <origin rpy="0 0 -0.999899" xyz="0.01436 0 0"/>
    <axis xyz="0 0 1.0"/>
    <!--	<mimic joint="RHand" multiplier="0.999899" offset="0"/> -->
  </joint>
  <link name="LFinger21_link">
    <inertial>
      <mass value="2e-06"/>
      <inertia ixx="1.1e-09" ixy="0" ixz="0" iyy="1.1e-09" iyz="0" izz="1.1e-09"/>
    </inertial>
    <visual>
      <geometry>
        <mesh filename="package://nao_description/nao_meshes/meshes/V40/LFinger21.dae" scale="0.1 0.1 0.1"/>
      </geometry>
      <origin rpy="0 0 0" xyz="0 0 0"/>
    </visual>
    <collision>
      <geometry>
        <mesh filename="package://nao_description/nao_meshes/meshes/V40/LFinger21_0.10.stl" scale="0.1 0.1 0.1"/>
      </geometry>
      <origin rpy="0 0 0" xyz="0 0 0"/>
    </collision>
  </link>
  <joint name="LFinger21" type="fixed">
    <parent link="l_wrist"/>
    <child link="LFinger21_link"/>
    <origin rpy="1.25539 0.976662 -0.264067" xyz="0.06907 -0.01157 -0.00304"/>
    <axis xyz="0 0 1.0"/>
    <!--	<mimic joint="LHand" multiplier="0.999899" offset="0"/> -->
  </joint>
  <link name="LFinger13_link">
    <inertial>
      <mass value="2e-06"/>
      <inertia ixx="1.1e-09" ixy="0" ixz="0" iyy="1.1e-09" iyz="0" izz="1.1e-09"/>
    </inertial>
    <visual>
      <geometry>
        <mesh filename="package://nao_description/nao_meshes/meshes/V40/LFinger13.dae" scale="0.1 0.1 0.1"/>
      </geometry>
      <origin rpy="0 0 0" xyz="0 0 0"/>
    </visual>
    <collision>
      <geometry>
        <mesh filename="package://nao_description/nao_meshes/meshes/V40/LFinger13_0.10.stl" scale="0.1 0.1 0.1"/>
      </geometry>
      <origin rpy="0 0 0" xyz="0 0 0"/>
    </collision>
  </link>
  <joint name="LFinger13" type="fixed">
    <parent link="LFinger12_link"/>
    <child link="LFinger13_link"/>
    <origin rpy="0 0 -0.999899" xyz="0.01436 0 0"/>
    <axis xyz="0 0 1.0"/>
    <!--	<mimic joint="LHand" multiplier="0.999899" offset="0"/> -->
  </joint>
  <link name="LFinger11_link">
    <inertial>
      <mass value="2e-06"/>
      <inertia ixx="1.1e-09" ixy="0" ixz="0" iyy="1.1e-09" iyz="0" izz="1.1e-09"/>
    </inertial>
    <visual>
      <geometry>
        <mesh filename="package://nao_description/nao_meshes/meshes/V40/LFinger11.dae" scale="0.1 0.1 0.1"/>
      </geometry>
      <origin rpy="0 0 0" xyz="0 0 0"/>
    </visual>
    <collision>
      <geometry>
        <mesh filename="package://nao_description/nao_meshes/meshes/V40/LFinger11_0.10.stl" scale="0.1 0.1 0.1"/>
      </geometry>
      <origin rpy="0 0 0" xyz="0 0 0"/>
    </collision>
  </link>
  <joint name="LFinger11" type="fixed">
    <parent link="l_wrist"/>
    <child link="LFinger11_link"/>
    <origin rpy="1.8862 0.976662 0.264067" xyz="0.06907 0.01157 -0.00304"/>
    <axis xyz="0 0 1.0"/>
    <!--	<mimic joint="LHand" multiplier="0.999899" offset="0"/> -->
  </joint>
  <link name="RFinger22_link">
    <inertial>
      <mass value="2e-06"/>
      <inertia ixx="1.1e-09" ixy="0" ixz="0" iyy="1.1e-09" iyz="0" izz="1.1e-09"/>
    </inertial>
    <visual>
      <geometry>
        <mesh filename="package://nao_description/nao_meshes/meshes/V40/RFinger22.dae" scale="0.1 0.1 0.1"/>
      </geometry>
      <origin rpy="0 0 0" xyz="0 0 0"/>
    </visual>
    <collision>
      <geometry>
        <mesh filename="package://nao_description/nao_meshes/meshes/V40/RFinger22_0.10.stl" scale="0.1 0.1 0.1"/>
      </geometry>
      <origin rpy="0 0 0" xyz="0 0 0"/>
    </collision>
  </link>
  <joint name="RFinger22" type="fixed">
    <parent link="RFinger21_link"/>
    <child link="RFinger22_link"/>
    <origin rpy="0 0 -0.999899" xyz="0.01436 0 0"/>
    <axis xyz="0 0 1.0"/>
    <!--	<mimic joint="RHand" multiplier="0.999899" offset="0"/> -->
  </joint>
  <link name="LFinger22_link">
    <inertial>
      <mass value="2e-06"/>
      <inertia ixx="1.1e-09" ixy="0" ixz="0" iyy="1.1e-09" iyz="0" izz="1.1e-09"/>
    </inertial>
    <visual>
      <geometry>
        <mesh filename="package://nao_description/nao_meshes/meshes/V40/LFinger22.dae" scale="0.1 0.1 0.1"/>
      </geometry>
      <origin rpy="0 0 0" xyz="0 0 0"/>
    </visual>
    <collision>
      <geometry>
        <mesh filename="package://nao_description/nao_meshes/meshes/V40/LFinger22_0.10.stl" scale="0.1 0.1 0.1"/>
      </geometry>
      <origin rpy="0 0 0" xyz="0 0 0"/>
    </collision>
  </link>
  <joint name="LFinger22" type="fixed">
    <parent link="LFinger21_link"/>
    <child link="LFinger22_link"/>
    <origin rpy="0 0 -0.999899" xyz="0.01436 0 0"/>
    <axis xyz="0 0 1.0"/>
    <!--	<mimic joint="LHand" multiplier="0.999899" offset="0"/> -->
  </joint>
  <link name="RFinger21_link">
    <inertial>
      <mass value="2e-06"/>
      <inertia ixx="1.1e-09" ixy="0" ixz="0" iyy="1.1e-09" iyz="0" izz="1.1e-09"/>
    </inertial>
    <visual>
      <geometry>
        <mesh filename="package://nao_description/nao_meshes/meshes/V40/RFinger21.dae" scale="0.1 0.1 0.1"/>
      </geometry>
      <origin rpy="0 0 0" xyz="0 0 0"/>
    </visual>
    <collision>
      <geometry>
        <mesh filename="package://nao_description/nao_meshes/meshes/V40/RFinger21_0.10.stl" scale="0.1 0.1 0.1"/>
      </geometry>
      <origin rpy="0 0 0" xyz="0 0 0"/>
    </collision>
  </link>
  <joint name="RFinger21" type="fixed">
    <parent link="r_wrist"/>
    <child link="RFinger21_link"/>
    <origin rpy="1.25539 0.976662 -0.264067" xyz="0.06907 -0.01157 -0.00304"/>
    <axis xyz="0 0 1.0"/>
    <!--	<mimic joint="RHand" multiplier="0.999899" offset="0"/> -->
  </joint>
  <link name="LFinger12_link">
    <inertial>
      <mass value="2e-06"/>
      <inertia ixx="1.1e-09" ixy="0" ixz="0" iyy="1.1e-09" iyz="0" izz="1.1e-09"/>
    </inertial>
    <visual>
      <geometry>
        <mesh filename="package://nao_description/nao_meshes/meshes/V40/LFinger12.dae" scale="0.1 0.1 0.1"/>
      </geometry>
      <origin rpy="0 0 0" xyz="0 0 0"/>
    </visual>
    <collision>
      <geometry>
        <mesh filename="package://nao_description/nao_meshes/meshes/V40/LFinger12_0.10.stl" scale="0.1 0.1 0.1"/>
      </geometry>
      <origin rpy="0 0 0" xyz="0 0 0"/>
    </collision>
  </link>
  <joint name="LFinger12" type="fixed">
    <parent link="LFinger11_link"/>
    <child link="LFinger12_link"/>
    <origin rpy="0 0 -0.999899" xyz="0.01436 0 0"/>
    <axis xyz="0 0 1.0"/>
    <!--	<mimic joint="LHand" multiplier="0.999899" offset="0"/> -->
  </joint>
  <link name="RFinger11_link">
    <inertial>
      <mass value="2e-06"/>
      <inertia ixx="1.1e-09" ixy="0" ixz="0" iyy="1.1e-09" iyz="0" izz="1.1e-09"/>
    </inertial>
    <visual>
      <geometry>
        <mesh filename="package://nao_description/nao_meshes/meshes/V40/RFinger11.dae" scale="0.1 0.1 0.1"/>
      </geometry>
      <origin rpy="0 0 0" xyz="0 0 0"/>
    </visual>
    <collision>
      <geometry>
        <mesh filename="package://nao_description/nao_meshes/meshes/V40/RFinger11_0.10.stl" scale="0.1 0.1 0.1"/>
      </geometry>
      <origin rpy="0 0 0" xyz="0 0 0"/>
    </collision>
  </link>
  <joint name="RFinger11" type="fixed">
    <parent link="r_wrist"/>
    <child link="RFinger11_link"/>
    <origin rpy="1.8862 0.976662 0.264067" xyz="0.06907 0.01157 -0.00304"/>
    <axis xyz="0 0 1.0"/>
    <!--	<mimic joint="RHand" multiplier="0.999899" offset="0"/> -->
  </joint>
  <link name="LFinger23_link">
    <inertial>
      <mass value="2e-06"/>
      <inertia ixx="1.1e-09" ixy="0" ixz="0" iyy="1.1e-09" iyz="0" izz="1.1e-09"/>
    </inertial>
    <visual>
      <geometry>
        <mesh filename="package://nao_description/nao_meshes/meshes/V40/LFinger23.dae" scale="0.1 0.1 0.1"/>
      </geometry>
      <origin rpy="0 0 0" xyz="0 0 0"/>
    </visual>
    <collision>
      <geometry>
        <mesh filename="package://nao_description/nao_meshes/meshes/V40/LFinger23_0.10.stl" scale="0.1 0.1 0.1"/>
      </geometry>
      <origin rpy="0 0 0" xyz="0 0 0"/>
    </collision>
  </link>
  <joint name="LFinger23" type="fixed">
    <parent link="LFinger22_link"/>
    <child link="LFinger23_link"/>
    <origin rpy="0 0 -0.999899" xyz="0.01436 0 0"/>
    <axis xyz="0 0 1.0"/>
    <!--	<mimic joint="LHand" multiplier="0.999899" offset="0"/> -->
  </joint>
  <link name="LThumb1_link">
    <inertial>
      <mass value="2e-06"/>
      <inertia ixx="1.1e-09" ixy="0" ixz="0" iyy="0" iyz="0" izz="0"/>
    </inertial>
    <visual>
      <geometry>
        <mesh filename="package://nao_description/nao_meshes/meshes/V40/LThumb1.dae" scale="0.1 0.1 0.1"/>
      </geometry>
      <origin rpy="0 0 0" xyz="0 0 0"/>
    </visual>
    <collision>
      <geometry>
        <mesh filename="package://nao_description/nao_meshes/meshes/V40/LThumb1_0.10.stl" scale="0.1 0.1 0.1"/>
      </geometry>
      <origin rpy="0 0 0" xyz="0 0 0"/>
    </collision>
  </link>
  <joint name="LThumb1" type="fixed">
    <parent link="l_wrist"/>
    <child link="LThumb1_link"/>
    <origin rpy="-1.5708 0.0472984 -3.26826e-08" xyz="0.04895 0 -0.02638"/>
    <axis xyz="0 0 1.0"/>
    <!--	<mimic joint="LHand" multiplier="0.999899" offset="0"/> -->
  </joint>
  <link name="RThumb1_link">
    <inertial>
      <mass value="2e-06"/>
      <inertia ixx="1.1e-09" ixy="0" ixz="0" iyy="1.1e-09" iyz="0" izz="1.1e-09"/>
    </inertial>
    <visual>
      <geometry>
        <mesh filename="package://nao_description/nao_meshes/meshes/V40/RThumb1.dae" scale="0.1 0.1 0.1"/>
      </geometry>
      <origin rpy="0 0 0" xyz="0 0 0"/>
    </visual>
    <collision>
      <geometry>
        <mesh filename="package://nao_description/nao_meshes/meshes/V40/RThumb1_0.10.stl" scale="0.1 0.1 0.1"/>
      </geometry>
      <origin rpy="0 0 0" xyz="0 0 0"/>
    </collision>
  </link>
  <joint name="RThumb1" type="fixed">
    <parent link="r_wrist"/>
    <child link="RThumb1_link"/>
    <origin rpy="-1.5708 0.0472984 -3.26826e-08" xyz="0.04895 0 -0.02638"/>
    <axis xyz="0 0 1.0"/>
    <!--	<mimic joint="RHand" multiplier="0.999899" offset="0"/> -->
  </joint>
  <link name="RThumb2_link">
    <inertial>
      <mass value="2e-06"/>
      <inertia ixx="0" ixy="0" ixz="0" iyy="0" iyz="0" izz="0"/>
    </inertial>
    <visual>
      <geometry>
        <mesh filename="package://nao_description/nao_meshes/meshes/V40/RThumb2.dae" scale="0.1 0.1 0.1"/>
      </geometry>
      <origin rpy="0 0 0" xyz="0 0 0"/>
    </visual>
    <collision>
      <geometry>
        <mesh filename="package://nao_description/nao_meshes/meshes/V40/RThumb2_0.10.stl" scale="0.1 0.1 0.1"/>
      </geometry>
      <origin rpy="0 0 0" xyz="0 0 0"/>
    </collision>
  </link>
  <joint name="RThumb2" type="fixed">
    <parent link="RThumb1_link"/>
    <child link="RThumb2_link"/>
    <origin rpy="0 0 -0.999899" xyz="0.01436 0 0"/>
    <axis xyz="0 0 1.0"/>
    <!--	<mimic joint="RHand" multiplier="0.999899" offset="0"/> -->
  </joint>
  <link name="LThumb2_link">
    <inertial>
      <mass value="2e-06"/>
      <inertia ixx="0" ixy="0" ixz="0" iyy="0" iyz="0" izz="0"/>
    </inertial>
    <visual>
      <geometry>
        <mesh filename="package://nao_description/nao_meshes/meshes/V40/LThumb2.dae" scale="0.1 0.1 0.1"/>
      </geometry>
      <origin rpy="0 0 0" xyz="0 0 0"/>
    </visual>
    <collision>
      <geometry>
        <mesh filename="package://nao_description/nao_meshes/meshes/V40/LThumb2_0.10.stl" scale="0.1 0.1 0.1"/>
      </geometry>
      <origin rpy="0 0 0" xyz="0 0 0"/>
    </collision>
  </link>
  <joint name="LThumb2" type="fixed">
    <parent link="LThumb1_link"/>
    <child link="LThumb2_link"/>
    <origin rpy="0 0 -0.999899" xyz="0.01436 0 0"/>
    <axis xyz="0 0 1.0"/>
    <!--	<mimic joint="LHand" multiplier="0.999899" offset="0"/> -->
  </joint>
  <!-- GAZEBO ROS CONTROL AND IMU PLUGIN -->
  <gazebo>
    <plugin filename="libgazebo_ros_control.so" name="gazebo_ros_control">
      <robotSimType>gazebo_ros_control/DefaultRobotHWSim</robotSimType>
    </plugin>
    <!--        <plugin filename="libgazebo_ros_imu.so" name="gazebo_ros_imu_controller">
            <robotNamespace>/nao_dcm</robotNamespace>
            <topicName>imu_data</topicName>
            <bodyName>imu</bodyName>
            <frameId>ImuAccelerometer_frame</frameId>
            <gaussianNoise>2.89e-08</gaussianNoise>
            <accelGaussianNoise>2.89e-08 2.89e-08 2.89e-08</accelGaussianNoise>
            <rateGaussianNoise>2.89e-08 2.89e-08 2.89e-08</rateGaussianNoise>
            <headingGaussianNoise>2.89e-08 2.89e-08 2.89e-08</headingGaussianNoise>
            <xyzOffsets>0 0 0</xyzOffsets>
            <rpyOffsets>0 0 0</rpyOffsets>
            <updateRate>30.0</updateRate>
            <alwaysOn>true</alwaysOn>
        </plugin>
-->
    <!--        <plugin name="gazebo_ros_imu_controller" filename="">
            <robotNamespace>/nao_dcm</robotNamespace>
            <topicName>imu_data</topicName>
            <bodyName>imu</bodyName>
            <frameId>imu</frameId>
            <gaussianNoise>2.89e-08</gaussianNoise>
            <accelGaussianNoise>2.89e-08 2.89e-08 2.89e-08</accelGaussianNoise>
            <rateGaussianNoise>2.89e-08 2.89e-08 2.89e-08</rateGaussianNoise>
            <headingGaussianNoise>2.89e-08 2.89e-08 2.89e-08</headingGaussianNoise>
            <xyzOffsets>0 0 0</xyzOffsets>
            <rpyOffsets>0 0 0</rpyOffsets>
            <updateRate>30.0</updateRate>
            <alwaysOn>true</alwaysOn>
        </plugin>
-->
    <!-- Mimic joints through plugin develop by costashatz based on implementation by Goncalo Cabrita -->
    <plugin filename="libroboticsgroup_gazebo_mimic_joint_plugin.so" name="mimic_hipyawpitch">
      <joint>LHipYawPitch</joint>
      <mimicJoint>RHipYawPitch</mimicJoint>
      <multiplier>1.0</multiplier>
      <offset>0.0</offset>
    </plugin>
    <plugin filename="libroboticsgroup_gazebo_mimic_joint_plugin.so" name="mimic_LFinger01">
      <joint>LHand</joint>
      <mimicJoint>LFinger01</mimicJoint>
      <multiplier>-0.785398163398</multiplier>
      <offset>0.785398163398</offset>
    </plugin>
    <plugin filename="libroboticsgroup_gazebo_mimic_joint_plugin.so" name="mimic_LFinger02">
      <joint>LHand</joint>
      <mimicJoint>LFinger02</mimicJoint>
      <multiplier>-0.785398163398</multiplier>
      <offset>0.785398163398</offset>
    </plugin>
    <plugin filename="libroboticsgroup_gazebo_mimic_joint_plugin.so" name="mimic_LFinger03">
      <joint>LHand</joint>
      <mimicJoint>LFinger03</mimicJoint>
      <multiplier>-0.785398163398</multiplier>
      <offset>0.785398163398</offset>
    </plugin>
    <plugin filename="libroboticsgroup_gazebo_mimic_joint_plugin.so" name="mimic_LFinger01">
      <joint>LHand</joint>
      <mimicJoint>LFinger01</mimicJoint>
      <multiplier>-0.785398163398</multiplier>
      <offset>0.785398163398</offset>
    </plugin>
    <plugin filename="libroboticsgroup_gazebo_mimic_joint_plugin.so" name="mimic_LFinger02">
      <joint>LHand</joint>
      <mimicJoint>LFinger02</mimicJoint>
      <multiplier>-0.785398163398</multiplier>
      <offset>0.785398163398</offset>
    </plugin>
    <plugin filename="libroboticsgroup_gazebo_mimic_joint_plugin.so" name="mimic_LFinger03">
      <joint>LHand</joint>
      <mimicJoint>LFinger03</mimicJoint>
      <multiplier>-0.785398163398</multiplier>
      <offset>0.785398163398</offset>
    </plugin>
    <plugin filename="libroboticsgroup_gazebo_mimic_joint_plugin.so" name="mimic_RFinger01">
      <joint>RHand</joint>
      <mimicJoint>RFinger01</mimicJoint>
      <multiplier>-0.785398163398</multiplier>
      <offset>0.785398163398</offset>
    </plugin>
    <plugin filename="libroboticsgroup_gazebo_mimic_joint_plugin.so" name="mimic_RFinger02">
      <joint>RHand</joint>
      <mimicJoint>RFinger02</mimicJoint>
      <multiplier>-0.785398163398</multiplier>
      <offset>0.785398163398</offset>
    </plugin>
    <plugin filename="libroboticsgroup_gazebo_mimic_joint_plugin.so" name="mimic_RFinger03">
      <joint>RHand</joint>
      <mimicJoint>RFinger03</mimicJoint>
      <multiplier>-0.785398163398</multiplier>
      <offset>0.785398163398</offset>
    </plugin>
    <plugin filename="libroboticsgroup_gazebo_mimic_joint_plugin.so" name="mimic_RFinger01">
      <joint>RHand</joint>
      <mimicJoint>RFinger01</mimicJoint>
      <multiplier>-0.785398163398</multiplier>
      <offset>0.785398163398</offset>
    </plugin>
    <plugin filename="libroboticsgroup_gazebo_mimic_joint_plugin.so" name="mimic_RFinger02">
      <joint>RHand</joint>
      <mimicJoint>RFinger02</mimicJoint>
      <multiplier>-0.785398163398</multiplier>
      <offset>0.785398163398</offset>
    </plugin>
    <plugin filename="libroboticsgroup_gazebo_mimic_joint_plugin.so" name="mimic_RFinger03">
      <joint>RHand</joint>
      <mimicJoint>RFinger03</mimicJoint>
      <multiplier>-0.785398163398</multiplier>
      <offset>0.785398163398</offset>
    </plugin>
    <plugin filename="libroboticsgroup_gazebo_mimic_joint_plugin.so" name="LThumb1">
      <joint>LHand</joint>
      <mimicJoint>LThumb1</mimicJoint>
      <multiplier>-0.785398163398</multiplier>
      <offset>0.785398163398</offset>
    </plugin>
    <plugin filename="libroboticsgroup_gazebo_mimic_joint_plugin.so" name="LThumb2">
      <joint>LHand</joint>
      <mimicJoint>LThumb2</mimicJoint>
      <multiplier>-0.785398163398</multiplier>
      <offset>0.785398163398</offset>
    </plugin>
    <plugin filename="libroboticsgroup_gazebo_mimic_joint_plugin.so" name="RThumb1">
      <joint>RHand</joint>
      <mimicJoint>RThumb1</mimicJoint>
      <multiplier>-0.785398163398</multiplier>
      <offset>0.785398163398</offset>
    </plugin>
    <plugin filename="libroboticsgroup_gazebo_mimic_joint_plugin.so" name="RThumb2">
      <joint>RHand</joint>
      <mimicJoint>RThumb2</mimicJoint>
      <multiplier>-0.785398163398</multiplier>
      <offset>0.785398163398</offset>
    </plugin>
    <plugin filename="libroboticsgroup_gazebo_disable_link_plugin.so" name="LFinger11_link">
      <link>LFinger11_link</link>
    </plugin>
    <plugin filename="libroboticsgroup_gazebo_disable_link_plugin.so" name="LFinger12_link">
      <link>LFinger12_link</link>
    </plugin>
    <plugin filename="libroboticsgroup_gazebo_disable_link_plugin.so" name="LFinger13_link">
      <link>LFinger13_link</link>
    </plugin>
    <plugin filename="libroboticsgroup_gazebo_disable_link_plugin.so" name="LFinger21_link">
      <link>LFinger21_link</link>
    </plugin>
    <plugin filename="libroboticsgroup_gazebo_disable_link_plugin.so" name="LFinger22_link">
      <link>LFinger22_link</link>
    </plugin>
    <plugin filename="libroboticsgroup_gazebo_disable_link_plugin.so" name="LFinger23_link">
      <link>LFinger23_link</link>
    </plugin>
    <plugin filename="libroboticsgroup_gazebo_disable_link_plugin.so" name="LThumb1_link">
      <link>LThumb1_link</link>
    </plugin>
    <plugin filename="libroboticsgroup_gazebo_disable_link_plugin.so" name="LThumb2_link">
      <link>LThumb2_link</link>
    </plugin>
    <plugin filename="libroboticsgroup_gazebo_disable_link_plugin.so" name="l_gripper">
      <link>l_gripper</link>
    </plugin>
    <plugin filename="libroboticsgroup_gazebo_disable_link_plugin.so" name="RFinger11_link">
      <link>RFinger11_link</link>
    </plugin>
    <plugin filename="libroboticsgroup_gazebo_disable_link_plugin.so" name="RFinger12_link">
      <link>RFinger12_link</link>
    </plugin>
    <plugin filename="libroboticsgroup_gazebo_disable_link_plugin.so" name="RFinger13_link">
      <link>RFinger13_link</link>
    </plugin>
    <plugin filename="libroboticsgroup_gazebo_disable_link_plugin.so" name="RFinger21_link">
      <link>RFinger21_link</link>
    </plugin>
    <plugin filename="libroboticsgroup_gazebo_disable_link_plugin.so" name="RFinger22_link">
      <link>RFinger22_link</link>
    </plugin>
    <plugin filename="libroboticsgroup_gazebo_disable_link_plugin.so" name="RFinger23_link">
      <link>RFinger23_link</link>
    </plugin>
    <plugin filename="libroboticsgroup_gazebo_disable_link_plugin.so" name="RThumb1_link">
      <link>RThumb1_link</link>
    </plugin>
    <plugin filename="libroboticsgroup_gazebo_disable_link_plugin.so" name="RThumb2_link">
      <link>RThumb2_link</link>
    </plugin>
    <plugin filename="libroboticsgroup_gazebo_disable_link_plugin.so" name="r_gripper">
      <link>r_gripper</link>
    </plugin>
  </gazebo>
  <!-- END OF GAZEBO ROS CONTROL PLUGIN -->
  <!-- GAZEBO MATERIALS -->
  <gazebo reference="torso">
    <mu1>0.5</mu1>
    <mu2>0.5</mu2>
    <selfCollide>false</selfCollide>
    <turnGravityOff>false</turnGravityOff>
  </gazebo>
  <gazebo reference="Neck">
    <mu1>0.5</mu1>
    <mu2>0.5</mu2>
    <selfCollide>false</selfCollide>
    <turnGravityOff>false</turnGravityOff>
  </gazebo>
  <gazebo reference="Head">
    <mu1>0.5</mu1>
    <mu2>0.5</mu2>
    <selfCollide>false</selfCollide>
    <turnGravityOff>false</turnGravityOff>
  </gazebo>
  <gazebo reference="gaze">
    <mu1>0.5</mu1>
    <mu2>0.5</mu2>
    <selfCollide>false</selfCollide>
    <turnGravityOff>false</turnGravityOff>
  </gazebo>
  <!--    <gazebo reference="LShoulderDummy">
        <mu1>0.5</mu1>
        <mu2>0.5</mu2>
        <selfCollide>false</selfCollide>
        <turnGravityOff>false</turnGravityOff>
    </gazebo>
    <gazebo reference="RShoulderDummy">
        <mu1>0.5</mu1>
        <mu2>0.5</mu2>
        <selfCollide>false</selfCollide>
        <turnGravityOff>false</turnGravityOff>
    </gazebo> -->
  <!-- ARMS -->
  <gazebo reference="LShoulder">
    <mu1>0.5</mu1>
    <mu2>0.5</mu2>
    <selfCollide>false</selfCollide>
    <turnGravityOff>false</turnGravityOff>
  </gazebo>
  <gazebo reference="LBicep">
    <mu1>0.5</mu1>
    <mu2>0.5</mu2>
    <selfCollide>false</selfCollide>
    <turnGravityOff>false</turnGravityOff>
  </gazebo>
  <gazebo reference="LElbow">
    <mu1>0.5</mu1>
    <mu2>0.5</mu2>
    <selfCollide>false</selfCollide>
    <turnGravityOff>false</turnGravityOff>
  </gazebo>
  <gazebo reference="LForeArm">
    <mu1>0.5</mu1>
    <mu2>0.5</mu2>
    <selfCollide>false</selfCollide>
    <turnGravityOff>false</turnGravityOff>
  </gazebo>
  <gazebo reference="l_wrist">
    <mu1>0.5</mu1>
    <mu2>0.5</mu2>
    <selfCollide>false</selfCollide>
    <turnGravityOff>false</turnGravityOff>
  </gazebo>
  <gazebo reference="l_gripper">
    <mu1>0.5</mu1>
    <mu2>0.5</mu2>
    <selfCollide>false</selfCollide>
    <turnGravityOff>true</turnGravityOff>
  </gazebo>
  <gazebo reference="RShoulder">
    <mu1>0.5</mu1>
    <mu2>0.5</mu2>
    <selfCollide>false</selfCollide>
    <turnGravityOff>false</turnGravityOff>
  </gazebo>
  <gazebo reference="RBicep">
    <mu1>0.5</mu1>
    <mu2>0.5</mu2>
    <selfCollide>false</selfCollide>
    <turnGravityOff>false</turnGravityOff>
  </gazebo>
  <gazebo reference="RElbow">
    <mu1>0.5</mu1>
    <mu2>0.5</mu2>
    <selfCollide>false</selfCollide>
    <turnGravityOff>false</turnGravityOff>
  </gazebo>
  <gazebo reference="RForeArm">
    <mu1>0.5</mu1>
    <mu2>0.5</mu2>
    <selfCollide>false</selfCollide>
    <turnGravityOff>false</turnGravityOff>
  </gazebo>
  <gazebo reference="r_wrist">
    <mu1>0.5</mu1>
    <mu2>0.5</mu2>
    <selfCollide>false</selfCollide>
    <turnGravityOff>false</turnGravityOff>
  </gazebo>
  <gazebo reference="r_gripper">
    <mu1>0.5</mu1>
    <mu2>0.5</mu2>
    <selfCollide>false</selfCollide>
    <turnGravityOff>true</turnGravityOff>
  </gazebo>
  <!--    <gazebo reference="LElbowDummy">
        <mu1>0.5</mu1>
        <mu2>0.5</mu2>
        <selfCollide>false</selfCollide>
        <turnGravityOff>false</turnGravityOff>
    </gazebo>
-->
  <gazebo reference="LFinger11_link">
    <mu1>0.5</mu1>
    <mu2>0.5</mu2>
    <selfCollide>false</selfCollide>
    <turnGravityOff>false</turnGravityOff>
  </gazebo>
  <gazebo reference="LFinger12_link">
    <mu1>0.5</mu1>
    <mu2>0.5</mu2>
    <selfCollide>false</selfCollide>
    <turnGravityOff>false</turnGravityOff>
  </gazebo>
  <gazebo reference="LFinger13_link">
    <mu1>0.5</mu1>
    <mu2>0.5</mu2>
    <selfCollide>false</selfCollide>
    <turnGravityOff>false</turnGravityOff>
  </gazebo>
  <gazebo reference="LFinger21_link">
    <mu1>0.5</mu1>
    <mu2>0.5</mu2>
    <selfCollide>false</selfCollide>
    <turnGravityOff>false</turnGravityOff>
  </gazebo>
  <gazebo reference="LFinger22_link">
    <mu1>0.5</mu1>
    <mu2>0.5</mu2>
    <selfCollide>false</selfCollide>
    <turnGravityOff>false</turnGravityOff>
  </gazebo>
  <gazebo reference="LFinger23_link">
    <mu1>0.5</mu1>
    <mu2>0.5</mu2>
    <selfCollide>false</selfCollide>
    <turnGravityOff>false</turnGravityOff>
  </gazebo>
  <gazebo reference="LThumb1_link">
    <mu1>0.5</mu1>
    <mu2>0.5</mu2>
    <selfCollide>false</selfCollide>
    <turnGravityOff>false</turnGravityOff>
  </gazebo>
  <gazebo reference="LThumb2_link">
    <mu1>0.5</mu1>
    <mu2>0.5</mu2>
    <selfCollide>false</selfCollide>
    <turnGravityOff>false</turnGravityOff>
  </gazebo>
  <gazebo reference="LPelvis">
    <mu1>0.5</mu1>
    <mu2>0.5</mu2>
    <selfCollide>false</selfCollide>
    <turnGravityOff>false</turnGravityOff>
  </gazebo>
  <gazebo reference="LHip">
    <mu1>0.5</mu1>
    <mu2>0.5</mu2>
    <selfCollide>false</selfCollide>
    <turnGravityOff>false</turnGravityOff>
  </gazebo>
  <gazebo reference="LThigh">
    <mu1>0.5</mu1>
    <mu2>0.5</mu2>
    <selfCollide>false</selfCollide>
    <turnGravityOff>false</turnGravityOff>
  </gazebo>
  <gazebo reference="LTibia">
    <mu1>0.5</mu1>
    <mu2>0.5</mu2>
    <selfCollide>false</selfCollide>
    <turnGravityOff>false</turnGravityOff>
  </gazebo>
  <gazebo reference="LAnklePitch">
    <mu1>0.5</mu1>
    <mu2>0.5</mu2>
    <selfCollide>false</selfCollide>
    <turnGravityOff>false</turnGravityOff>
  </gazebo>
  <gazebo reference="l_ankle">
    <mu1>0.5</mu1>
    <mu2>0.5</mu2>
    <selfCollide>false</selfCollide>
    <turnGravityOff>false</turnGravityOff>
    <fdir1>1 0 0</fdir1>
    <maxVel>0.1</maxVel>
    <minDepth>0.003</minDepth>
  </gazebo>
  <gazebo reference="RPelvis">
    <mu1>0.5</mu1>
    <mu2>0.5</mu2>
    <selfCollide>false</selfCollide>
    <turnGravityOff>false</turnGravityOff>
  </gazebo>
  <gazebo reference="RHip">
    <mu1>0.5</mu1>
    <mu2>0.5</mu2>
    <selfCollide>false</selfCollide>
    <turnGravityOff>false</turnGravityOff>
  </gazebo>
  <gazebo reference="RThigh">
    <mu1>0.5</mu1>
    <mu2>0.5</mu2>
    <selfCollide>false</selfCollide>
    <turnGravityOff>false</turnGravityOff>
  </gazebo>
  <gazebo reference="RTibia">
    <mu1>0.5</mu1>
    <mu2>0.5</mu2>
    <selfCollide>false</selfCollide>
    <turnGravityOff>false</turnGravityOff>
  </gazebo>
  <gazebo reference="RAnklePitch">
    <mu1>0.5</mu1>
    <mu2>0.5</mu2>
    <selfCollide>false</selfCollide>
    <turnGravityOff>false</turnGravityOff>
  </gazebo>
  <gazebo reference="r_ankle">
    <mu1>0.5</mu1>
    <mu2>0.5</mu2>
    <selfCollide>false</selfCollide>
    <turnGravityOff>false</turnGravityOff>
    <fdir1>1 0 0</fdir1>
    <maxVel>0.1</maxVel>
    <minDepth>0.003</minDepth>
  </gazebo>
  <gazebo reference="RFinger11_link">
    <mu1>0.5</mu1>
    <mu2>0.5</mu2>
    <selfCollide>false</selfCollide>
    <turnGravityOff>false</turnGravityOff>
  </gazebo>
  <gazebo reference="RFinger12_link">
    <mu1>0.5</mu1>
    <mu2>0.5</mu2>
    <selfCollide>false</selfCollide>
    <turnGravityOff>false</turnGravityOff>
  </gazebo>
  <gazebo reference="RFinger13_link">
    <mu1>0.5</mu1>
    <mu2>0.5</mu2>
    <selfCollide>false</selfCollide>
    <turnGravityOff>false</turnGravityOff>
  </gazebo>
  <gazebo reference="RFinger21_link">
    <mu1>0.5</mu1>
    <mu2>0.5</mu2>
    <selfCollide>false</selfCollide>
    <turnGravityOff>false</turnGravityOff>
  </gazebo>
  <gazebo reference="RFinger22_link">
    <mu1>0.5</mu1>
    <mu2>0.5</mu2>
    <selfCollide>false</selfCollide>
    <turnGravityOff>false</turnGravityOff>
  </gazebo>
  <gazebo reference="RFinger23_link">
    <mu1>0.5</mu1>
    <mu2>0.5</mu2>
    <selfCollide>false</selfCollide>
    <turnGravityOff>false</turnGravityOff>
  </gazebo>
  <gazebo reference="RThumb1_link">
    <mu1>0.5</mu1>
    <mu2>0.5</mu2>
    <selfCollide>false</selfCollide>
    <turnGravityOff>false</turnGravityOff>
  </gazebo>
  <gazebo reference="RThumb2_link">
    <mu1>0.5</mu1>
    <mu2>0.5</mu2>
    <selfCollide>false</selfCollide>
    <turnGravityOff>false</turnGravityOff>
  </gazebo>
  <!--

        RGB CAMERAS: Working
-->
  <gazebo reference="CameraTop_frame">
    <sensor name="CameraTop" type="camera">
      <update_rate>5.0</update_rate>
      <camera name="camera_top">
        <horizontal_fov>1.06290551</horizontal_fov>
        <image>
          <width>640</width>
          <height>480</height>
          <format>R8G8B8</format>
        </image>
        <clip>
          <near>0.3</near>
          <far>500</far>
        </clip>
        <noise>
          <type>gaussian</type>
          <mean>0.0</mean>
          <stddev>0.007</stddev>
        </noise>
      </camera>
      <plugin filename="libgazebo_ros_camera.so" name="camera_controller">
        <alwaysOn>true</alwaysOn>
        <updateRate>5.0</updateRate>
        <cameraName>camera/top</cameraName>
        <imageTopicName>image_raw</imageTopicName>
        <cameraInfoTopicName>camera_info</cameraInfoTopicName>
        <frameName>CameraTop_optical_frame</frameName>
        <hackBaseline>0.07</hackBaseline>
        <distortionK1>-0.0545211</distortionK1>
        <distortionK2>0.06919734</distortionK2>
        <distortionK3>-0.0241095</distortionK3>
        <distortionT1>-0.0112245</distortionT1>
        <distortionT2>0.0</distortionT2>
      </plugin>
    </sensor>
  </gazebo>
  <gazebo reference="CameraBottom_frame">
    <sensor name="CameraBottom" type="camera">
      <update_rate>5.0</update_rate>
      <camera name="camera_bottom">
        <horizontal_fov>1.06290551</horizontal_fov>
        <image>
          <width>640</width>
          <height>480</height>
          <format>R8G8B8</format>
        </image>
        <clip>
          <near>0.05</near>
          <far>500</far>
        </clip>
        <noise>
          <type>gaussian</type>
          <mean>0.0</mean>
          <stddev>0.007</stddev>
        </noise>
      </camera>
      <plugin filename="libgazebo_ros_camera.so" name="camera_controller">
        <alwaysOn>true</alwaysOn>
        <updateRate>5.0</updateRate>
        <cameraName>camera_bottom</cameraName>
        <imageTopicName>image_raw</imageTopicName>
        <cameraInfoTopicName>camera_info</cameraInfoTopicName>
        <frameName>CameraBottom_optical_frame</frameName>
        <hackBaseline>0.07</hackBaseline>
        <distortionK1>-0.0648764</distortionK1>
        <distortionK2>0.06125202</distortionK2>
        <distortionK3>0.00382815</distortionK3>
        <distortionT1>-0.00551104</distortionT1>
        <distortionT2>0.0</distortionT2>
      </plugin>
    </sensor>
  </gazebo>
  <!--

        CameraDepth : not displayed at the right spot

<gazebo reference="CameraDepth3_frame">
    <sensor type="depth" name="openni_camera_camera2">
        <always_on>1</always_on>
        <visualize>true</visualize>
        <camera>
            <horizontal_fov>1.01229</horizontal_fov>
            <image>
                <width>320</width>
                <height>240</height>
                <format>R8G8B8</format>
            </image>
            <depth_camera>

            </depth_camera>
            <clip>
                <near>0.1</near>
                <far>100</far>
            </clip>
        </camera>
        <plugin name="depth_cam_controller2" filename="libgazebo_ros_openni_kinect.so">
            <baseline>0.2</baseline>
            <alwaysOn>true</alwaysOn>
            <updateRate>0.1</updateRate>
            <cameraName>xtion2</cameraName>
            <imageTopicName>/xtion2/ir/image_raw</imageTopicName>
            <cameraInfoTopicName>/xtion2/ir/camera_info</cameraInfoTopicName>
            <depthImageTopicName>/xtion2/depth/image_raw</depthImageTopicName>
            <depthImageInfoTopicName>/xtion2/depth/camera_info</depthImageInfoTopicName>
            <pointCloudTopicName>/xtion2/depth/points</pointCloudTopicName>
            <frameName>CameraDepth2_frame</frameName>
            <pointCloudCutoff>0.5</pointCloudCutoff>
            <distortionK1>0.00000001</distortionK1>
            <distortionK2>0.00000001</distortionK2>
            <distortionK3>0.00000001</distortionK3>
            <distortionT1>0.00000001</distortionT1>
            <distortionT2>0.00000001</distortionT2>
            <CxPrime>0</CxPrime>
            <Cx>0</Cx>
            <Cy>0</Cy>
            <focalLength>0</focalLength>
            <hackBaseline>0</hackBaseline>
        </plugin>
    </sensor>
</gazebo>
-->
  <!--
    BUMPERS + FSR
libgazebo_ros_bumper.so bugged right now, waiting for new release


<gazebo reference="LFootBumper_frame">
  <sensor type="contact" name="LFootBumper">
    <update_rate>10</update_rate>
    <contact>
      <collision>LFootBumper_frame_collision</collision>
    </contact>
    <plugin filename="libgazebo_ros_bumper.so" name="gazebo_nao_ros_bumper">
      <alwaysOn>true</alwaysOn>
      <bumperTopicName>LFootBumper</bumperTopicName>
      <frameName>LFootBumper_frame</frameName>
    </plugin>
  </sensor>
</gazebo>
-->
  <gazebo reference="RFsrFL_frame">
    <mu1>0.5</mu1>
    <mu2>0.5</mu2>
    <selfCollide>false</selfCollide>
    <turnGravityOff>false</turnGravityOff>
    <fdir1>1 0 0</fdir1>
    <maxVel>0.1</maxVel>
    <minDepth>0.003</minDepth>
    <sensor name="RFsrFL" type="contact">
      <always_on>1</always_on>
      <update_rate>20</update_rate>
      <visualize>false</visualize>
      <contact>
        <collision>RFsrFL_frame_collision</collision>
      </contact>
      <plugin filename="libgazebo_ros_bumper.so" name="gazebo_nao_RFsrFL">
        <robotNamespace>nao_robot</robotNamespace>
        <alwaysOn>true</alwaysOn>
        <bumperTopicName>FSR/RFoot/FrontLeft</bumperTopicName>
        <frameName>RFsrFL_frame</frameName>
      </plugin>
    </sensor>
  </gazebo>
  <gazebo reference="RFsrFR_frame">
    <mu1>0.5</mu1>
    <mu2>0.5</mu2>
    <selfCollide>false</selfCollide>
    <turnGravityOff>false</turnGravityOff>
    <fdir1>1 0 0</fdir1>
    <maxVel>0.1</maxVel>
    <minDepth>0.003</minDepth>
    <sensor name="RFsrFR" type="contact">
      <always_on>1</always_on>
      <update_rate>20</update_rate>
      <visualize>false</visualize>
      <contact>
        <collision>RFsrFR_frame_collision</collision>
      </contact>
      <plugin filename="libgazebo_ros_bumper.so" name="gazebo_nao_RFsrFR">
        <robotNamespace>nao_robot</robotNamespace>
        <alwaysOn>true</alwaysOn>
        <bumperTopicName>FSR/RFoot/FrontRight</bumperTopicName>
        <frameName>RFsrFR_frame</frameName>
      </plugin>
    </sensor>
  </gazebo>
  <gazebo reference="RFsrRL_frame">
    <mu1>0.5</mu1>
    <mu2>0.5</mu2>
    <selfCollide>false</selfCollide>
    <turnGravityOff>false</turnGravityOff>
    <fdir1>1 0 0</fdir1>
    <maxVel>0.1</maxVel>
    <minDepth>0.003</minDepth>
    <sensor name="RFsrRL" type="contact">
      <always_on>1</always_on>
      <update_rate>20</update_rate>
      <visualize>false</visualize>
      <contact>
        <collision>RFsrRL_frame_collision</collision>
      </contact>
      <plugin filename="libgazebo_ros_bumper.so" name="gazebo_nao_RFsrRL">
        <robotNamespace>nao_robot</robotNamespace>
        <alwaysOn>true</alwaysOn>
        <bumperTopicName>FSR/RFoot/RearLeft</bumperTopicName>
        <frameName>RFsrRL_frame</frameName>
      </plugin>
    </sensor>
  </gazebo>
  <gazebo reference="RFsrRR_frame">
    <mu1>0.5</mu1>
    <mu2>0.5</mu2>
    <selfCollide>false</selfCollide>
    <turnGravityOff>false</turnGravityOff>
    <fdir1>1 0 0</fdir1>
    <maxVel>0.1</maxVel>
    <minDepth>0.003</minDepth>
    <sensor name="RFsrRR" type="contact">
      <always_on>1</always_on>
      <update_rate>20</update_rate>
      <visualize>false</visualize>
      <contact>
        <collision>RFsrRR_frame_collision</collision>
      </contact>
      <plugin filename="libgazebo_ros_bumper.so" name="gazebo_nao_RFsrRR">
        <robotNamespace>nao_robot</robotNamespace>
        <alwaysOn>true</alwaysOn>
        <bumperTopicName>FSR/RFoot/RearRight</bumperTopicName>
        <frameName>RFsrRR_frame</frameName>
      </plugin>
    </sensor>
  </gazebo>
  <gazebo reference="LFsrFL_frame">
    <mu1>0.5</mu1>
    <mu2>0.5</mu2>
    <selfCollide>false</selfCollide>
    <turnGravityOff>false</turnGravityOff>
    <fdir1>1 0 0</fdir1>
    <maxVel>0.1</maxVel>
    <minDepth>0.003</minDepth>
    <sensor name="LFsrFL" type="contact">
      <always_on>1</always_on>
      <update_rate>20</update_rate>
      <visualize>false</visualize>
      <contact>
        <collision>LFsrFL_frame_collision</collision>
      </contact>
      <plugin filename="libgazebo_ros_bumper.so" name="gazebo_nao_LFsrFL">
        <robotNamespace>nao_robot</robotNamespace>
        <alwaysOn>true</alwaysOn>
        <bumperTopicName>FSR/LFoot/FrontLeft</bumperTopicName>
        <frameName>LFsrFL_frame</frameName>
      </plugin>
    </sensor>
  </gazebo>
  <gazebo reference="LFsrFR_frame">
    <mu1>0.5</mu1>
    <mu2>0.5</mu2>
    <selfCollide>false</selfCollide>
    <turnGravityOff>false</turnGravityOff>
    <fdir1>1 0 0</fdir1>
    <maxVel>0.1</maxVel>
    <minDepth>0.003</minDepth>
    <sensor name="LFsrFR" type="contact">
      <always_on>1</always_on>
      <update_rate>20</update_rate>
      <visualize>false</visualize>
      <contact>
        <collision>LFsrFR_frame_collision</collision>
      </contact>
      <plugin filename="libgazebo_ros_bumper.so" name="gazebo_nao_ros_bumper">
        <robotNamespace>nao_robot</robotNamespace>
        <alwaysOn>true</alwaysOn>
        <bumperTopicName>FSR/LFoot/FrontRight</bumperTopicName>
        <frameName>LFsrFR_frame</frameName>
      </plugin>
    </sensor>
  </gazebo>
  <gazebo reference="LFsrRL_frame">
    <mu1>0.5</mu1>
    <mu2>0.5</mu2>
    <selfCollide>false</selfCollide>
    <turnGravityOff>false</turnGravityOff>
    <fdir1>1 0 0</fdir1>
    <maxVel>0.1</maxVel>
    <minDepth>0.003</minDepth>
    <sensor name="LFsrRL" type="contact">
      <always_on>1</always_on>
      <update_rate>20</update_rate>
      <visualize>false</visualize>
      <contact>
        <collision>LFsrRL_frame_collision</collision>
      </contact>
      <plugin filename="libgazebo_ros_bumper.so" name="gazebo_nao_ros_bumper">
        <robotNamespace>nao_robot</robotNamespace>
        <alwaysOn>true</alwaysOn>
        <bumperTopicName>FSR/LFoot/RearLeft</bumperTopicName>
        <frameName>LFsrRL_frame</frameName>
      </plugin>
    </sensor>
  </gazebo>
  <gazebo reference="LFsrRR_frame">
    <mu1>0.5</mu1>
    <mu2>0.5</mu2>
    <selfCollide>false</selfCollide>
    <turnGravityOff>false</turnGravityOff>
    <fdir1>1 0 0</fdir1>
    <maxVel>0.1</maxVel>
    <minDepth>0.003</minDepth>
    <sensor name="LFsrRR" type="contact">
      <always_on>1</always_on>
      <update_rate>20</update_rate>
      <visualize>false</visualize>
      <contact>
        <collision>LFsrRR_frame_collision</collision>
      </contact>
      <plugin filename="libgazebo_ros_bumper.so" name="gazebo_nao_ros_bumper">
        <robotNamespace>nao_robot</robotNamespace>
        <alwaysOn>true</alwaysOn>
        <bumperTopicName>FSR/LFoot/RearRight</bumperTopicName>
        <frameName>LFsrRR_frame</frameName>
      </plugin>
    </sensor>
  </gazebo>
  <!--
    Sonars
-->
  <gazebo reference="LSonar_frame">
    <sensor name="LSonar" type="ray">
      <pose>0 0 0 0 0 0</pose>
      <update_rate>20</update_rate>
      <visualize>false</visualize>
      <ray>
        <scan>
          <horizontal>
            <samples>5</samples>
            <resolution>1</resolution>
            <min_angle>-0.2617993877991494</min_angle>
            <max_angle>0.2617993877991494</max_angle>
            <!--
          <min_angle>-0.10</min_angle>
          <max_angle>0.10</max_angle>
-->
          </horizontal>
          <vertical>
            <samples>5</samples>
            <resolution>1</resolution>
            <min_angle>-0.13</min_angle>
            <max_angle>0.13</max_angle>
            <!--
          <min_angle>-0.2617993877991494</min_angle>
          <max_angle>0.2617993877991494</max_angle>
-->
          </vertical>
        </scan>
        <range>
          <min>0.025</min>
          <max>2.55</max>
          <resolution>1</resolution>
        </range>
      </ray>
      <plugin filename="libgazebo_ros_range.so" name="gazebo_ros_range">
        <robotNamespace>nao_robot</robotNamespace>
        <gaussianNoise>0.05</gaussianNoise>
        <alwaysOn>true</alwaysOn>
        <updateRate>20</updateRate>
        <topicName>sonar_left</topicName>
        <frameName>LSonar_frame</frameName>
        <minRange>0.025</minRange>
        <maxRange>2.55</maxRange>
        <fov>0.5235987755982988</fov>
        <!--      <fov>0.1</fov> -->
        <radiation>ultrasound</radiation>
      </plugin>
    </sensor>
  </gazebo>
  <gazebo reference="RSonar_frame">
    <sensor name="RSonar" type="ray">
      <pose>0 0 0 0 0 0</pose>
      <update_rate>20</update_rate>
      <visualize>false</visualize>
      <ray>
        <scan>
          <horizontal>
            <samples>5</samples>
            <resolution>1</resolution>
            <min_angle>-0.2617993877991494</min_angle>
            <max_angle>0.2617993877991494</max_angle>
          </horizontal>
          <vertical>
            <samples>5</samples>
            <resolution>1</resolution>
            <min_angle>-0.13</min_angle>
            <max_angle>0.13</max_angle>
          </vertical>
        </scan>
        <range>
          <min>0.025</min>
          <max>2.55</max>
          <resolution>1</resolution>
        </range>
      </ray>
      <plugin filename="libgazebo_ros_range.so" name="gazebo_ros_range">
        <robotNamespace>nao_robot</robotNamespace>
        <gaussianNoise>0.05</gaussianNoise>
        <alwaysOn>true</alwaysOn>
        <updateRate>20</updateRate>
        <topicName>sonar_right</topicName>
        <frameName>RSonar_frame</frameName>
        <minRange>0.025</minRange>
        <maxRange>2.55</maxRange>
        <fov>0.5235987755982988</fov>
        <radiation>ultrasound</radiation>
      </plugin>
    </sensor>
  </gazebo>
  <!-- HEAD -->
  <transmission name="HeadYaw_Transmission">
    <type>transmission_interface/SimpleTransmission</type>
    <joint name="HeadYaw">
      <hardwareInterface>hardware_interface/PositionJointInterface</hardwareInterface>
    </joint>
    <actuator name="HeadYaw_Motor">
      <!-- Dummy Values -->
      <hardwareInterface>hardware_interface/PositionJointInterface</hardwareInterface>
      <mechanicalReduction>150.27</mechanicalReduction>
    </actuator>
  </transmission>
  <transmission name="HeadPitch_Transmission">
    <type>transmission_interface/SimpleTransmission</type>
    <joint name="HeadPitch">
      <hardwareInterface>hardware_interface/PositionJointInterface</hardwareInterface>
    </joint>
    <actuator name="HeadPitch_Motor">
      <!-- Dummy Values -->
      <hardwareInterface>hardware_interface/PositionJointInterface</hardwareInterface>
      <mechanicalReduction>173.22</mechanicalReduction>
    </actuator>
  </transmission>
  <transmission name="LShoulderPitch_Transmission">
    <type>transmission_interface/SimpleTransmission</type>
    <joint name="LShoulderPitch">
      <hardwareInterface>hardware_interface/PositionJointInterface</hardwareInterface>
    </joint>
    <actuator name="LShoulderPitch_Motor">
      <hardwareInterface>hardware_interface/PositionJointInterface</hardwareInterface>
      <mechanicalReduction>150.27</mechanicalReduction>
    </actuator>
  </transmission>
  <transmission name="LShoulderRoll_Transmission">
    <type>transmission_interface/SimpleTransmission</type>
    <joint name="LShoulderRoll">
      <hardwareInterface>hardware_interface/PositionJointInterface</hardwareInterface>
    </joint>
    <actuator name="LShoulderRoll_Motor">
      <hardwareInterface>hardware_interface/PositionJointInterface</hardwareInterface>
      <mechanicalReduction>173.22</mechanicalReduction>
    </actuator>
  </transmission>
  <transmission name="LElbowYaw_Transmission">
    <type>transmission_interface/SimpleTransmission</type>
    <joint name="LElbowYaw">
      <hardwareInterface>hardware_interface/PositionJointInterface</hardwareInterface>
    </joint>
    <actuator name="LElbowYaw_Motor">
      <hardwareInterface>hardware_interface/PositionJointInterface</hardwareInterface>
      <mechanicalReduction>150.27</mechanicalReduction>
    </actuator>
  </transmission>
  <transmission name="LElbowRoll_Transmission">
    <type>transmission_interface/SimpleTransmission</type>
    <joint name="LElbowRoll">
      <hardwareInterface>hardware_interface/PositionJointInterface</hardwareInterface>
    </joint>
    <actuator name="LElbowRoll_Motor">
      <hardwareInterface>hardware_interface/PositionJointInterface</hardwareInterface>
      <mechanicalReduction>173.22</mechanicalReduction>
    </actuator>
  </transmission>
  <transmission name="LWristYaw_Transmission">
    <type>transmission_interface/SimpleTransmission</type>
    <joint name="LWristYaw">
      <hardwareInterface>hardware_interface/PositionJointInterface</hardwareInterface>
    </joint>
    <actuator name="LWristYaw_Motor">
      <hardwareInterface>hardware_interface/PositionJointInterface</hardwareInterface>
      <mechanicalReduction>50.61</mechanicalReduction>
    </actuator>
  </transmission>
  <transmission name="LHand_Transmission">
    <type>transmission_interface/SimpleTransmission</type>
    <joint name="LHand">
      <hardwareInterface>hardware_interface/PositionJointInterface</hardwareInterface>
    </joint>
    <actuator name="LHand_Motor">
      <hardwareInterface>hardware_interface/PositionJointInterface</hardwareInterface>
      <mechanicalReduction>36.24</mechanicalReduction>
    </actuator>
  </transmission>
  <transmission name="RShoulderPitch_Transmission">
    <type>transmission_interface/SimpleTransmission</type>
    <joint name="RShoulderPitch">
      <hardwareInterface>hardware_interface/PositionJointInterface</hardwareInterface>
    </joint>
    <actuator name="RShoulderPitch_Motor">
      <hardwareInterface>hardware_interface/PositionJointInterface</hardwareInterface>
      <mechanicalReduction>150.27</mechanicalReduction>
    </actuator>
  </transmission>
  <transmission name="RShoulderRoll_Transmission">
    <type>transmission_interface/SimpleTransmission</type>
    <joint name="RShoulderRoll">
      <hardwareInterface>hardware_interface/PositionJointInterface</hardwareInterface>
    </joint>
    <actuator name="RShoulderRoll_Motor">
      <hardwareInterface>hardware_interface/PositionJointInterface</hardwareInterface>
      <mechanicalReduction>173.22</mechanicalReduction>
    </actuator>
  </transmission>
  <transmission name="RElbowYaw_Transmission">
    <type>transmission_interface/SimpleTransmission</type>
    <joint name="RElbowYaw">
      <hardwareInterface>hardware_interface/PositionJointInterface</hardwareInterface>
    </joint>
    <actuator name="RElbowYaw_Motor">
      <hardwareInterface>hardware_interface/PositionJointInterface</hardwareInterface>
      <mechanicalReduction>150.27</mechanicalReduction>
    </actuator>
  </transmission>
  <transmission name="RElbowRoll_Transmission">
    <type>transmission_interface/SimpleTransmission</type>
    <joint name="RElbowRoll">
      <hardwareInterface>hardware_interface/PositionJointInterface</hardwareInterface>
    </joint>
    <actuator name="RElbowRoll_Motor">
      <hardwareInterface>hardware_interface/PositionJointInterface</hardwareInterface>
      <mechanicalReduction>173.22</mechanicalReduction>
    </actuator>
  </transmission>
  <transmission name="RWristYaw_Transmission">
    <type>transmission_interface/SimpleTransmission</type>
    <joint name="RWristYaw">
      <hardwareInterface>hardware_interface/PositionJointInterface</hardwareInterface>
    </joint>
    <actuator name="RWristYaw_Motor">
      <hardwareInterface>hardware_interface/PositionJointInterface</hardwareInterface>
      <mechanicalReduction>50.61</mechanicalReduction>
    </actuator>
  </transmission>
  <transmission name="RHand_Transmission">
    <type>transmission_interface/SimpleTransmission</type>
    <joint name="RHand">
      <hardwareInterface>hardware_interface/PositionJointInterface</hardwareInterface>
    </joint>
    <actuator name="RHand_Motor">
      <hardwareInterface>hardware_interface/PositionJointInterface</hardwareInterface>
      <mechanicalReduction>36.24</mechanicalReduction>
    </actuator>
  </transmission>
  <transmission name="LHipYawPitch_Transmission">
    <type>transmission_interface/SimpleTransmission</type>
    <joint name="LHipYawPitch">
      <hardwareInterface>hardware_interface/PositionJointInterface</hardwareInterface>
    </joint>
    <actuator name="LHipYawPitch_Motor">
      <!-- Dummy Values -->
      <hardwareInterface>hardware_interface/PositionJointInterface</hardwareInterface>
      <mechanicalReduction>201.3</mechanicalReduction>
    </actuator>
  </transmission>
  <transmission name="LHipRoll_Transmission">
    <type>transmission_interface/SimpleTransmission</type>
    <joint name="LHipRoll">
      <hardwareInterface>hardware_interface/PositionJointInterface</hardwareInterface>
    </joint>
    <actuator name="LHipRoll_Motor">
      <!-- Dummy Values -->
      <hardwareInterface>hardware_interface/PositionJointInterface</hardwareInterface>
      <mechanicalReduction>201.3</mechanicalReduction>
    </actuator>
  </transmission>
  <transmission name="LHipPitch_Transmission">
    <type>transmission_interface/SimpleTransmission</type>
    <joint name="LHipPitch">
      <hardwareInterface>hardware_interface/PositionJointInterface</hardwareInterface>
    </joint>
    <actuator name="LHipPitch_Motor">
      <!-- Dummy Values -->
      <hardwareInterface>hardware_interface/PositionJointInterface</hardwareInterface>
      <mechanicalReduction>130.85</mechanicalReduction>
    </actuator>
  </transmission>
  <transmission name="LKneePitch_Transmission">
    <type>transmission_interface/SimpleTransmission</type>
    <joint name="LKneePitch">
      <hardwareInterface>hardware_interface/PositionJointInterface</hardwareInterface>
    </joint>
    <actuator name="LKneePitch_Motor">
      <!-- Dummy Values -->
      <hardwareInterface>hardware_interface/PositionJointInterface</hardwareInterface>
      <mechanicalReduction>130.85</mechanicalReduction>
    </actuator>
  </transmission>
  <transmission name="LAnklePitch_Transmission">
    <type>transmission_interface/SimpleTransmission</type>
    <joint name="LAnklePitch">
      <hardwareInterface>hardware_interface/PositionJointInterface</hardwareInterface>
    </joint>
    <actuator name="LAnklePitch_Motor">
      <!-- Dummy Values -->
      <hardwareInterface>hardware_interface/PositionJointInterface</hardwareInterface>
      <mechanicalReduction>130.85</mechanicalReduction>
    </actuator>
  </transmission>
  <transmission name="LAnkleRoll_Transmission">
    <type>transmission_interface/SimpleTransmission</type>
    <joint name="LAnkleRoll">
      <hardwareInterface>hardware_interface/PositionJointInterface</hardwareInterface>
    </joint>
    <actuator name="LAnkleRoll_Motor">
      <!-- Dummy Values -->
      <hardwareInterface>hardware_interface/PositionJointInterface</hardwareInterface>
      <mechanicalReduction>201.3</mechanicalReduction>
    </actuator>
  </transmission>
  <transmission name="RHipYawPitch_Transmission">
    <type>transmission_interface/SimpleTransmission</type>
    <joint name="RHipYawPitch">
      <hardwareInterface>hardware_interface/PositionJointInterface</hardwareInterface>
    </joint>
    <actuator name="RHipYawPitch_Motor">
      <!-- Dummy Values -->
      <hardwareInterface>hardware_interface/PositionJointInterface</hardwareInterface>
      <mechanicalReduction>201.3</mechanicalReduction>
    </actuator>
  </transmission>
  <transmission name="RHipRoll_Transmission">
    <type>transmission_interface/SimpleTransmission</type>
    <joint name="RHipRoll">
      <hardwareInterface>hardware_interface/PositionJointInterface</hardwareInterface>
    </joint>
    <actuator name="RHipRoll_Motor">
      <!-- Dummy Values -->
      <hardwareInterface>hardware_interface/PositionJointInterface</hardwareInterface>
      <mechanicalReduction>201.3</mechanicalReduction>
    </actuator>
  </transmission>
  <transmission name="RHipPitch_Transmission">
    <type>transmission_interface/SimpleTransmission</type>
    <joint name="RHipPitch">
      <hardwareInterface>hardware_interface/PositionJointInterface</hardwareInterface>
    </joint>
    <actuator name="RHipPitch_Motor">
      <!-- Dummy Values -->
      <hardwareInterface>hardware_interface/PositionJointInterface</hardwareInterface>
      <mechanicalReduction>130.85</mechanicalReduction>
    </actuator>
  </transmission>
  <transmission name="RKneePitch_Transmission">
    <type>transmission_interface/SimpleTransmission</type>
    <joint name="RKneePitch">
      <hardwareInterface>hardware_interface/PositionJointInterface</hardwareInterface>
    </joint>
    <actuator name="RKneePitch_Motor">
      <!-- Dummy Values -->
      <hardwareInterface>hardware_interface/PositionJointInterface</hardwareInterface>
      <mechanicalReduction>130.85</mechanicalReduction>
    </actuator>
  </transmission>
  <transmission name="RAnklePitch_Transmission">
    <type>transmission_interface/SimpleTransmission</type>
    <joint name="RAnklePitch">
      <hardwareInterface>hardware_interface/PositionJointInterface</hardwareInterface>
    </joint>
    <actuator name="RAnklePitch_Motor">
      <!-- Dummy Values -->
      <hardwareInterface>hardware_interface/PositionJointInterface</hardwareInterface>
      <mechanicalReduction>130.85</mechanicalReduction>
    </actuator>
  </transmission>
  <transmission name="RAnkleRoll_Transmission">
    <type>transmission_interface/SimpleTransmission</type>
    <joint name="RAnkleRoll">
      <hardwareInterface>hardware_interface/PositionJointInterface</hardwareInterface>
    </joint>
    <actuator name="RAnkleRoll_Motor">
      <!-- Dummy Values -->
      <hardwareInterface>hardware_interface/PositionJointInterface</hardwareInterface>
      <mechanicalReduction>201.3</mechanicalReduction>
    </actuator>
  </transmission>
</robot>
